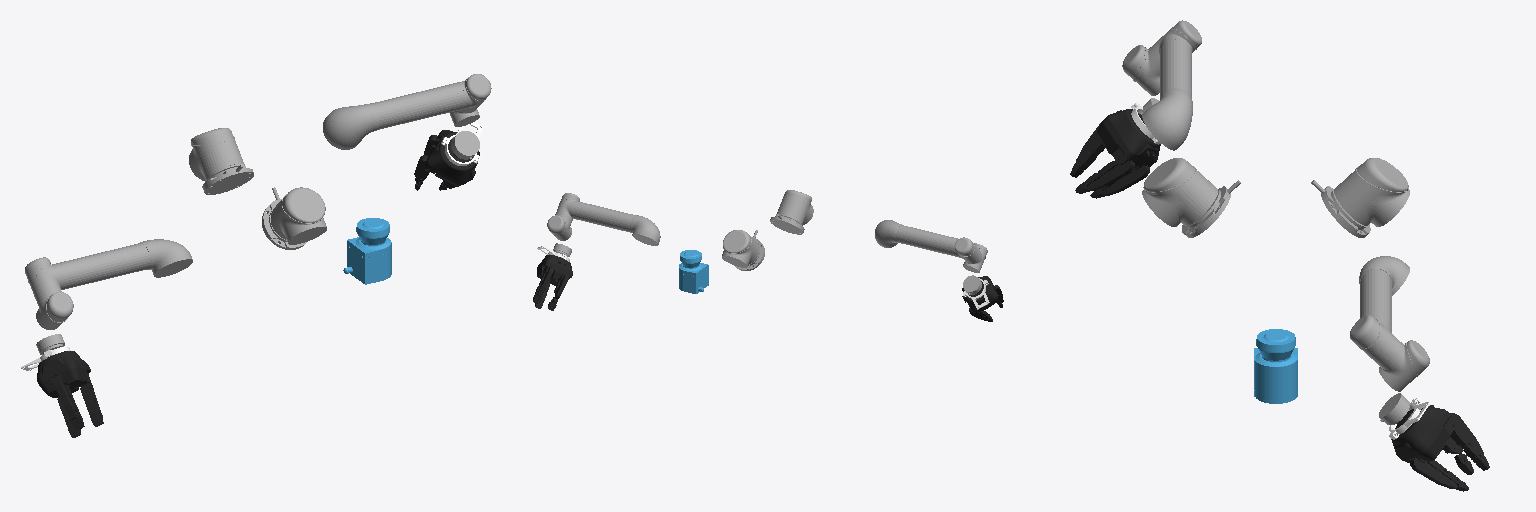
--- Render facts (derived) ---
3 views of the same robot in one strip: view 1: azimuth 30°, elevation 25°; view 2: azimuth 150°, elevation 25°; view 3: azimuth 270°, elevation 25° (orthographic).
Robot: bulldog — 82 links, 81 joints (34 revolute, 4 continuous, 43 fixed); root link base_link; default pose: joints at zero except 12 at the middle of their limits (left_gripper_finger_1_joint_1 = 0.6357, left_gripper_finger_1_joint_3 = -0.637, left_gripper_finger_2_joint_1 = 0.6357, left_gripper_finger_2_joint_3 = -0.637, left_gripper_finger_middle_joint_1 = 0.6357, left_gripper_finger_middle_joint_3 = -0.637, +6 more).
Visible links, largest first — view 1: left_arm_forearm_link, right_arm_forearm_link, laser, right_arm_shoulder_link, left_arm_shoulder_link, right_gripper_palm, left_gripper_palm, right_arm_wrist_1_link, left_arm_base_link, left_arm_wrist_3_link, right_arm_base_link; view 2: left_arm_forearm_link, right_arm_forearm_link, laser, left_arm_shoulder_link, right_arm_shoulder_link, left_gripper_palm; view 3: right_arm_forearm_link, left_arm_forearm_link, left_arm_shoulder_link, right_arm_shoulder_link, laser, left_gripper_palm, right_gripper_palm, left_arm_wrist_1_link, right_arm_wrist_1_link, left_arm_base_link, right_arm_base_link, left_arm_wrist_3_link (+2 smaller).
Boxes of the visible links, bbox=[...] form: left_arm_forearm_link: bbox=[323, 74, 491, 149]; right_arm_forearm_link: bbox=[25, 239, 192, 299]; laser: bbox=[343, 218, 391, 284]; right_arm_shoulder_link: bbox=[271, 187, 326, 244]; left_arm_shoulder_link: bbox=[189, 128, 244, 181]; right_gripper_palm: bbox=[37, 351, 90, 397]; left_gripper_palm: bbox=[425, 130, 479, 185]; right_arm_wrist_1_link: bbox=[36, 290, 73, 329]; left_arm_base_link: bbox=[202, 164, 253, 194]; left_arm_wrist_3_link: bbox=[451, 131, 479, 159]; right_arm_base_link: bbox=[262, 187, 306, 249]; left_arm_forearm_link: bbox=[555, 193, 660, 245]; right_arm_forearm_link: bbox=[875, 220, 979, 262]; laser: bbox=[679, 250, 708, 293]; left_arm_shoulder_link: bbox=[722, 230, 758, 267]; right_arm_shoulder_link: bbox=[776, 190, 813, 225]; left_gripper_palm: bbox=[537, 255, 572, 285]; right_arm_forearm_link: bbox=[1142, 20, 1201, 150]; left_arm_forearm_link: bbox=[1350, 256, 1409, 365]; left_arm_shoulder_link: bbox=[1334, 158, 1409, 226]; right_arm_shoulder_link: bbox=[1142, 158, 1217, 226]; laser: bbox=[1254, 329, 1297, 403]; left_gripper_palm: bbox=[1391, 405, 1450, 462]; right_gripper_palm: bbox=[1097, 109, 1160, 167]; left_arm_wrist_1_link: bbox=[1379, 340, 1429, 391]; right_arm_wrist_1_link: bbox=[1122, 45, 1159, 95]; left_arm_base_link: bbox=[1311, 180, 1370, 237]; right_arm_base_link: bbox=[1182, 180, 1240, 237]; left_arm_wrist_3_link: bbox=[1379, 393, 1409, 424].
Bounding box of the posed robot: 1.81 × 0.9817 × 0.4838 m (x, y, z).
Meshes: 21 distinct files referenced, 38 mesh visuals loaded (12 binary STL); not drawn: 15 (reference not matched to a file when rendering).

URDF robot description (bulldog):
<?xml version="1.0" ?>
<!-- =================================================================================== -->
<!-- |    This document was autogenerated by xacro from bulldog_mujoco_robot.xacro     | -->
<!-- |    EDITING THIS FILE BY HAND IS NOT RECOMMENDED                                 | -->
<!-- =================================================================================== -->
<!-- Create a bulldog robot instantiation -->
<robot name="bulldog" xmlns:xacro="http://ros.org/wiki/xacro">
  <mujoco>
    <compiler meshdir="meshes" discardvisual="false" balanceinertia="true"/>
  </mujoco>
  
  <material name="black">
    <color rgba="0 0 0 1.0"/>
  </material>
  <material name="flat_black">
    <color rgba="0.1 0.1 0.1 1.0"/>
  </material>
  <material name="dark_grey">
    <color rgba="0.175 0.175 0.175 1.0"/>
  </material>
  <material name="grey">
    <color rgba="0.3 0.3 0.3 1"/>
  </material>
  <!-- husky = 0.3282 -->
  <!-- husky = 0.1651 -->
  <!-- 15 degree -->
  <!-- <xacro:property name="left_arm_xyz" value="0 0.15945 0.14069" />
  <xacro:property name="left_arm_rpy" value="${-pi / 12} 0 0" />
  <xacro:property name="right_arm_xyz" value="0 -0.15945 0.14069" />
  <xacro:property name="right_arm_rpy" value="${-pi / 12} 0 ${pi}" /> -->
  <!-- 30 degree -->
  <!-- <xacro:property name="left_arm_xyz" value="0 0.15945 0.14069" />
  <xacro:property name="left_arm_rpy" value="${-pi / 6} 0 0" />
  <xacro:property name="right_arm_xyz" value="0 -0.15945 0.14069" />
  <xacro:property name="right_arm_rpy" value="${-pi / 6} 0 ${pi}" /> -->
  <!-- 0 degree -->
  <!-- <xacro:property name="left_arm_xyz" value="0 0.15945 0.14069" />
  <xacro:property name="left_arm_rpy" value="0 0 0" />
  <xacro:property name="right_arm_xyz" value="0 -0.15945 0.14069" />
  <xacro:property name="right_arm_rpy" value="0 0 ${pi}" /> -->
  <!-- -45 degree -->
  <!-- <xacro:property name="left_arm_xyz" value="0 0.25945 0.49069" />
  <xacro:property name="left_arm_rpy" value="${- 3 * pi / 4} 0 0" />
  <xacro:property name="right_arm_xyz" value="0 -0.25945 0.49069" />
  <xacro:property name="right_arm_rpy" value="${- 3 * pi / 4} 0 ${pi}" /> -->
  <!-- Base link is the center of the robot's bottom plate -->
  <link name="base_link">
    <visual>
      <origin rpy="0 0 0" xyz="0 0 0"/>
      <geometry>
        <mesh filename="package://bulldog_description/meshes/base_link.stl"/>
      </geometry>
      <material name="flat_black"/>
    </visual>
    <collision>
      <origin rpy="0 0 0" xyz="0 0 0.08125"/>
      <geometry>
        <box size="0.85 0.42 0.1625"/>
      </geometry>
    </collision>
    <collision>
      <origin rpy="0 0 0" xyz="0 0 0.21125"/>
      <geometry>
        <box size="0.68 0.42 0.0975"/>
      </geometry>
    </collision>
  </link>
  <gazebo reference="base_link">
    <material>Gazebo/FlatBlack</material>
  </gazebo>
  <!-- Base footprint is on the ground under the robot -->
  <link name="base_footprint"/>
  <joint name="base_footprint_joint" type="fixed">
    <origin rpy="0 0 0" xyz="0 0 -0.13808"/>
    <parent link="base_link"/>
    <child link="base_footprint"/>
  </joint>
  <!-- Interial link stores the robot's inertial information -->
  <!-- <link name="inertial_link">
      <inertial>
        <mass value="40" />
        <origin xyz="0 0 0.1" />
        <inertia ixx="0.7" ixy="-0.03" ixz="-0.15" iyy="2" iyz="-0.01" izz="4" />
      </inertial>
    </link> -->
  <!-- Dual UR5 Husky -->
  <!-- <link name="inertial_link">
      <inertial>
        <mass value="48.39054"/>
        <origin xyz="-0.0648 -0.00059 0.07895"/>
        <inertia ixx="2.1634275613800003" ixy="-0.055452352110000006" ixz="-0.41083822026" iyy="3.5314689495400002" iyz="-0.004366145530000001" izz="4.4759585875" />
      </inertial>
    </link> -->
  <!-- Husky -->
  <link name="inertial_link">
    <inertial>
      <mass value="46.034"/>
      <origin xyz="-0.00065 -0.085 0.062"/>
      <inertia ixx="0.6022" ixy="-0.02364" ixz="-0.1197" iyy="1.7386" iyz="-0.001544" izz="2.0296"/>
    </inertial>
  </link>
  <joint name="inertial_joint" type="fixed">
    <origin rpy="0 0 0" xyz="0 0 0"/>
    <parent link="base_link"/>
    <child link="inertial_link"/>
  </joint>
  <!-- IMU link is the standard mounting position for the UM6 IMU.-->
  <!-- Can be modified with environment variables in /etc/ros/setup.bash -->
  <link name="imu_link"/>
  <joint name="imu_joint" type="fixed">
    <origin rpy="0 -1.5708 3.1416" xyz="0.19 0 0.149"/>
    <parent link="base_link"/>
    <child link="imu_link"/>
  </joint>
  <gazebo reference="imu_link"/>
  <link name="front_left_wheel_link">
    <inertial>
      <mass value="2.637"/>
      <origin xyz="0 0 0"/>
      <inertia ixx="0.02467" ixy="0" ixz="0" iyy="0.04411" iyz="0" izz="0.02467"/>
    </inertial>
    <!-- <inertial>
        <mass value="3" />
        <origin xyz="0 0 0" />
        <inertia  ixx="0.025" ixy="0" ixz="0" iyy="0.045" iyz="0" izz="0.025" />
      </inertial> -->
    <visual>
      <origin rpy="0 0 0" xyz="0 0 0"/>
      <geometry>
        <mesh filename="package://bulldog_description/meshes/wheel.stl"/>
      </geometry>
      <material name="dark_grey"/>
    </visual>
    <collision>
      <origin rpy="1.57079632679 0 0" xyz="0 0 0"/>
      <geometry>
        <cylinder length="0.1346" radius="0.1816"/>
      </geometry>
    </collision>
  </link>
  <gazebo reference="front_left_wheel_link">
    <mu1 value="1.0"/>
    <mu2 value="0.15"/>
    <kp value="10000000.0"/>
    <kd value="1.0"/>
    <fdir1 value="1 0 0"/>
    <material>Gazebo/DarkGrey</material>
  </gazebo>
  <joint name="front_left_wheel_joint" type="continuous">
    <parent link="base_link"/>
    <child link="front_left_wheel_link"/>
    <origin rpy="0 0 0" xyz="0.27935 0.2924 0.04352"/>
    <axis rpy="0 0 0" xyz="0 1 0"/>
  </joint>
  <transmission name="front_left_wheel_trans" type="SimpleTransmission">
    <type>transmission_interface/SimpleTransmission</type>
    <actuator name="front_left_wheel_motor">
      <mechanicalReduction>1</mechanicalReduction>
    </actuator>
    <joint name="front_left_wheel_joint">
      <hardwareInterface>hardware_interface/VelocityJointInterface</hardwareInterface>
    </joint>
  </transmission>
  <link name="front_right_wheel_link">
    <inertial>
      <mass value="2.637"/>
      <origin xyz="0 0 0"/>
      <inertia ixx="0.02467" ixy="0" ixz="0" iyy="0.04411" iyz="0" izz="0.02467"/>
    </inertial>
    <!-- <inertial>
        <mass value="3" />
        <origin xyz="0 0 0" />
        <inertia  ixx="0.025" ixy="0" ixz="0" iyy="0.045" iyz="0" izz="0.025" />
      </inertial> -->
    <visual>
      <origin rpy="0 0 0" xyz="0 0 0"/>
      <geometry>
        <mesh filename="package://bulldog_description/meshes/wheel.stl"/>
      </geometry>
      <material name="dark_grey"/>
    </visual>
    <collision>
      <origin rpy="1.57079632679 0 0" xyz="0 0 0"/>
      <geometry>
        <cylinder length="0.1346" radius="0.1816"/>
      </geometry>
    </collision>
  </link>
  <gazebo reference="front_right_wheel_link">
    <mu1 value="1.0"/>
    <mu2 value="0.15"/>
    <kp value="10000000.0"/>
    <kd value="1.0"/>
    <fdir1 value="1 0 0"/>
    <material>Gazebo/DarkGrey</material>
  </gazebo>
  <joint name="front_right_wheel_joint" type="continuous">
    <parent link="base_link"/>
    <child link="front_right_wheel_link"/>
    <origin rpy="0 0 0" xyz="0.27935 -0.2924 0.04352"/>
    <axis rpy="0 0 0" xyz="0 1 0"/>
  </joint>
  <transmission name="front_right_wheel_trans" type="SimpleTransmission">
    <type>transmission_interface/SimpleTransmission</type>
    <actuator name="front_right_wheel_motor">
      <mechanicalReduction>1</mechanicalReduction>
    </actuator>
    <joint name="front_right_wheel_joint">
      <hardwareInterface>hardware_interface/VelocityJointInterface</hardwareInterface>
    </joint>
  </transmission>
  <link name="rear_left_wheel_link">
    <inertial>
      <mass value="2.637"/>
      <origin xyz="0 0 0"/>
      <inertia ixx="0.02467" ixy="0" ixz="0" iyy="0.04411" iyz="0" izz="0.02467"/>
    </inertial>
    <!-- <inertial>
        <mass value="3" />
        <origin xyz="0 0 0" />
        <inertia  ixx="0.025" ixy="0" ixz="0" iyy="0.045" iyz="0" izz="0.025" />
      </inertial> -->
    <visual>
      <origin rpy="0 0 0" xyz="0 0 0"/>
      <geometry>
        <mesh filename="package://bulldog_description/meshes/wheel.stl"/>
      </geometry>
      <material name="dark_grey"/>
    </visual>
    <collision>
      <origin rpy="1.57079632679 0 0" xyz="0 0 0"/>
      <geometry>
        <cylinder length="0.1346" radius="0.1816"/>
      </geometry>
    </collision>
  </link>
  <gazebo reference="rear_left_wheel_link">
    <mu1 value="1.0"/>
    <mu2 value="0.15"/>
    <kp value="10000000.0"/>
    <kd value="1.0"/>
    <fdir1 value="1 0 0"/>
    <material>Gazebo/DarkGrey</material>
  </gazebo>
  <joint name="rear_left_wheel_joint" type="continuous">
    <parent link="base_link"/>
    <child link="rear_left_wheel_link"/>
    <origin rpy="0 0 0" xyz="-0.27935 0.2924 0.04352"/>
    <axis rpy="0 0 0" xyz="0 1 0"/>
  </joint>
  <transmission name="rear_left_wheel_trans" type="SimpleTransmission">
    <type>transmission_interface/SimpleTransmission</type>
    <actuator name="rear_left_wheel_motor">
      <mechanicalReduction>1</mechanicalReduction>
    </actuator>
    <joint name="rear_left_wheel_joint">
      <hardwareInterface>hardware_interface/VelocityJointInterface</hardwareInterface>
    </joint>
  </transmission>
  <link name="rear_right_wheel_link">
    <inertial>
      <mass value="2.637"/>
      <origin xyz="0 0 0"/>
      <inertia ixx="0.02467" ixy="0" ixz="0" iyy="0.04411" iyz="0" izz="0.02467"/>
    </inertial>
    <!-- <inertial>
        <mass value="3" />
        <origin xyz="0 0 0" />
        <inertia  ixx="0.025" ixy="0" ixz="0" iyy="0.045" iyz="0" izz="0.025" />
      </inertial> -->
    <visual>
      <origin rpy="0 0 0" xyz="0 0 0"/>
      <geometry>
        <mesh filename="package://bulldog_description/meshes/wheel.stl"/>
      </geometry>
      <material name="dark_grey"/>
    </visual>
    <collision>
      <origin rpy="1.57079632679 0 0" xyz="0 0 0"/>
      <geometry>
        <cylinder length="0.1346" radius="0.1816"/>
      </geometry>
    </collision>
  </link>
  <gazebo reference="rear_right_wheel_link">
    <mu1 value="1.0"/>
    <mu2 value="0.15"/>
    <kp value="10000000.0"/>
    <kd value="1.0"/>
    <fdir1 value="1 0 0"/>
    <material>Gazebo/DarkGrey</material>
  </gazebo>
  <joint name="rear_right_wheel_joint" type="continuous">
    <parent link="base_link"/>
    <child link="rear_right_wheel_link"/>
    <origin rpy="0 0 0" xyz="-0.27935 -0.2924 0.04352"/>
    <axis rpy="0 0 0" xyz="0 1 0"/>
  </joint>
  <transmission name="rear_right_wheel_trans" type="SimpleTransmission">
    <type>transmission_interface/SimpleTransmission</type>
    <actuator name="rear_right_wheel_motor">
      <mechanicalReduction>1</mechanicalReduction>
    </actuator>
    <joint name="rear_right_wheel_joint">
      <hardwareInterface>hardware_interface/VelocityJointInterface</hardwareInterface>
    </joint>
  </transmission>
  <link name="top_plate_link">
    <visual>
      <origin rpy="0 0 0" xyz="0 0 0"/>
      <geometry>
        <mesh filename="package://bulldog_description/meshes/top_plate.stl"/>
      </geometry>
      <material name="grey"/>
    </visual>
  </link>
  <joint name="top_plate_joint" type="fixed">
    <origin rpy="0 0 0" xyz="0.07937 0 0.253"/>
    <parent link="base_link"/>
    <child link="top_plate_link"/>
  </joint>
  <gazebo reference="top_plate_link">
    <material>Gazebo/Grey</material>
  </gazebo>
  <link name="installation_plate_link">
    <visual>
      <origin rpy="0 0 1.57" xyz="0 0 -0.0476"/>
      <geometry>
        <mesh filename="package://bulldog_description/meshes/installation_plate.stl"/>
      </geometry>
      <material name="black"/>
    </visual>
  </link>
  <joint name="installation_plate_joint" type="fixed">
    <parent link="base_link"/>
    <child link="installation_plate_link"/>
    <origin rpy="0 0 0" xyz="0.147 0 0.314"/>
  </joint>
  <gazebo reference="installation_plate_link">
    <material>Gazebo/Black</material>
  </gazebo>
  <!-- measured from model -->
  <!--property name="shoulder_height" value="0.089159" /-->
  <!--property name="shoulder_offset" value="0.13585" /-->
  <!-- shoulder_offset - elbow_offset + wrist_1_length = 0.10915 -->
  <!--property name="upper_arm_length" value="0.42500" /-->
  <!--property name="elbow_offset" value="0.1197" /-->
  <!-- CAD measured -->
  <!--property name="forearm_length" value="0.39225" /-->
  <!--property name="wrist_1_length" value="0.093" /-->
  <!-- CAD measured -->
  <!--property name="wrist_2_length" value="0.09465" /-->
  <!-- In CAD this distance is 0.930, but in the spec it is 0.09465 -->
  <!--property name="wrist_3_length" value="0.0823" /-->
  <!-- manually measured -->
  <link name="left_arm_base_link">
    <visual>
      <geometry>
        <!-- <mesh filename="package://ur_description/meshes/ur5/visual/base.dae"/> -->
        <mesh filename="package://ur_description/meshes/ur5/visual/ur5_visual_base.stl"/>
      </geometry>
      <material name="LightGrey">
        <color rgba="0.7 0.7 0.7 1.0"/>
      </material>
    </visual>
    <collision>
      <geometry>
        <!-- <mesh filename="package://ur_description/meshes/ur5/collision/base.stl"/> -->
        <mesh filename="package://ur_description/meshes/ur5/collision/ur5_collision_base.stl"/>
      </geometry>
    </collision>
    <inertial>
      <mass value="4.0"/>
      <origin rpy="0 0 0" xyz="0.0 0.0 0.0"/>
      <inertia ixx="0.00443333156" ixy="0.0" ixz="0.0" iyy="0.00443333156" iyz="0.0" izz="0.0072"/>
    </inertial>
  </link>
  <joint name="left_arm_shoulder_pan_joint" type="revolute">
    <parent link="left_arm_base_link"/>
    <child link="left_arm_shoulder_link"/>
    <origin rpy="0.0 0.0 0.0" xyz="0.0 0.0 0.089159"/>
    <axis xyz="0 0 1"/>
    <limit effort="150.0" lower="-3.14159265359" upper="3.14159265359" velocity="3.15"/>
    <dynamics damping="0.0" friction="0.0"/>
  </joint>
  <link name="left_arm_shoulder_link">
    <visual>
      <geometry>
        <!-- <mesh filename="package://ur_description/meshes/ur5/visual/shoulder.dae"/> -->
        <mesh filename="package://ur_description/meshes/ur5/visual/ur5_visual_shoulder.stl"/>
      </geometry>
      <material name="LightGrey">
        <color rgba="0.7 0.7 0.7 1.0"/>
      </material>
    </visual>
    <collision>
      <geometry>
        <!-- <mesh filename="package://ur_description/meshes/ur5/collision/shoulder.stl"/> -->
        <mesh filename="package://ur_description/meshes/ur5/collision/ur5_collision_shoulder.stl"/>
      </geometry>
    </collision>
    <inertial>
      <mass value="3.7"/>
      <origin rpy="0 0 0" xyz="0.0 0.0 0.0"/>
      <inertia ixx="0.010267495893" ixy="0.0" ixz="0.0" iyy="0.010267495893" iyz="0.0" izz="0.00666"/>
    </inertial>
  </link>
  <joint name="left_arm_shoulder_lift_joint" type="revolute">
    <parent link="left_arm_shoulder_link"/>
    <child link="left_arm_upper_arm_link"/>
    <origin rpy="0.0 1.57079632679 0.0" xyz="0.0 0.13585 0.0"/>
    <axis xyz="0 1 0"/>
    <limit effort="150.0" lower="-3.14159265359" upper="3.14159265359" velocity="3.15"/>
    <dynamics damping="0.0" friction="0.0"/>
  </joint>
  <link name="left_arm_upper_arm_link">
    <visual>
      <geometry>
        <!-- <mesh filename="package://ur_description/meshes/ur5/visual/upperarm.dae"/> -->
        <mesh filename="package://ur_description/meshes/ur5/visual/ur5_visual_upperarm.stl"/>
      </geometry>
      <material name="LightGrey">
        <color rgba="0.7 0.7 0.7 1.0"/>
      </material>
    </visual>
    <collision>
      <geometry>
        <!-- <mesh filename="package://ur_description/meshes/ur5/collision/upperarm.stl"/> -->
        <mesh filename="package://ur_description/meshes/ur5/collision/ur5_collision_upperarm.stl"/>
      </geometry>
    </collision>
    <inertial>
      <mass value="8.393"/>
      <origin rpy="0 0 0" xyz="0.0 0.0 0.28"/>
      <inertia ixx="0.22689067591" ixy="0.0" ixz="0.0" iyy="0.22689067591" iyz="0.0" izz="0.0151074"/>
    </inertial>
  </link>
  <joint name="left_arm_elbow_joint" type="revolute">
    <parent link="left_arm_upper_arm_link"/>
    <child link="left_arm_forearm_link"/>
    <origin rpy="0.0 0.0 0.0" xyz="0.0 -0.1197 0.425"/>
    <axis xyz="0 1 0"/>
    <limit effort="150.0" lower="-3.14159265359" upper="3.14159265359" velocity="3.15"/>
    <dynamics damping="0.0" friction="0.0"/>
  </joint>
  <link name="left_arm_forearm_link">
    <visual>
      <geometry>
        <!-- <mesh filename="package://ur_description/meshes/ur5/visual/forearm.dae"/> -->
        <mesh filename="package://ur_description/meshes/ur5/visual/ur5_visual_forearm.stl"/>
      </geometry>
      <material name="LightGrey">
        <color rgba="0.7 0.7 0.7 1.0"/>
      </material>
    </visual>
    <collision>
      <geometry>
        <!-- <mesh filename="package://ur_description/meshes/ur5/collision/forearm.stl"/> -->
        <mesh filename="package://ur_description/meshes/ur5/collision/ur5_collision_forearm.stl"/>
      </geometry>
    </collision>
    <inertial>
      <mass value="2.275"/>
      <origin rpy="0 0 0" xyz="0.0 0.0 0.196125"/>
      <inertia ixx="0.0312167910289" ixy="0.0" ixz="0.0" iyy="0.0312167910289" iyz="0.0" izz="0.004095"/>
    </inertial>
  </link>
  <joint name="left_arm_wrist_1_joint" type="revolute">
    <parent link="left_arm_forearm_link"/>
    <child link="left_arm_wrist_1_link"/>
    <origin rpy="0.0 1.57079632679 0.0" xyz="0.0 0.0 0.39225"/>
    <axis xyz="0 1 0"/>
    <limit effort="28.0" lower="-3.14159265359" upper="3.14159265359" velocity="3.2"/>
    <dynamics damping="0.0" friction="0.0"/>
  </joint>
  <link name="left_arm_wrist_1_link">
    <visual>
      <geometry>
        <!-- <mesh filename="package://ur_description/meshes/ur5/visual/wrist1.dae"/> -->
        <mesh filename="package://ur_description/meshes/ur5/visual/ur5_visual_wrist1.stl"/>
      </geometry>
      <material name="LightGrey">
        <color rgba="0.7 0.7 0.7 1.0"/>
      </material>
    </visual>
    <collision>
      <geometry>
        <!-- <mesh filename="package://ur_description/meshes/ur5/collision/wrist1.stl"/> -->
        <mesh filename="package://ur_description/meshes/ur5/collision/ur5_collision_wrist1.stl"/>
      </geometry>
    </collision>
    <inertial>
      <mass value="1.219"/>
      <origin rpy="0 0 0" xyz="0.0 0.093 0.0"/>
      <inertia ixx="0.00255989897604" ixy="0.0" ixz="0.0" iyy="0.00255989897604" iyz="0.0" izz="0.0021942"/>
    </inertial>
  </link>
  <joint name="left_arm_wrist_2_joint" type="revolute">
    <parent link="left_arm_wrist_1_link"/>
    <child link="left_arm_wrist_2_link"/>
    <origin rpy="0.0 0.0 0.0" xyz="0.0 0.093 0.0"/>
    <axis xyz="0 0 1"/>
    <limit effort="28.0" lower="-3.14159265359" upper="3.14159265359" velocity="3.2"/>
    <dynamics damping="0.0" friction="0.0"/>
  </joint>
  <link name="left_arm_wrist_2_link">
    <visual>
      <geometry>
        <!-- <mesh filename="package://ur_description/meshes/ur5/visual/wrist2.dae"/> -->
        <mesh filename="package://ur_description/meshes/ur5/visual/ur5_visual_wrist2.stl"/>
      </geometry>
      <material name="LightGrey">
        <color rgba="0.7 0.7 0.7 1.0"/>
      </material>
    </visual>
    <collision>
      <geometry>
        <!-- <mesh filename="package://ur_description/meshes/ur5/collision/wrist2.stl"/> -->
        <mesh filename="package://ur_description/meshes/ur5/collision/ur5_collision_wrist2.stl"/>
      </geometry>
    </collision>
    <inertial>
      <mass value="1.219"/>
      <origin rpy="0 0 0" xyz="0.0 0.0 0.09465"/>
      <inertia ixx="0.00255989897604" ixy="0.0" ixz="0.0" iyy="0.00255989897604" iyz="0.0" izz="0.0021942"/>
    </inertial>
  </link>
  <joint name="left_arm_wrist_3_joint" type="revolute">
    <parent link="left_arm_wrist_2_link"/>
    <child link="left_arm_wrist_3_link"/>
    <origin rpy="0.0 0.0 0.0" xyz="0.0 0.0 0.09465"/>
    <axis xyz="0 1 0"/>
    <limit effort="28.0" lower="-3.14159265359" upper="3.14159265359" velocity="3.2"/>
    <dynamics damping="0.0" friction="0.0"/>
  </joint>
  <link name="left_arm_wrist_3_link">
    <visual>
      <geometry>
        <!-- <mesh filename="package://ur_description/meshes/ur5/visual/wrist3.dae"/> -->
        <mesh filename="package://ur_description/meshes/ur5/visual/ur5_visual_wrist3.stl"/>
      </geometry>
      <material name="LightGrey">
        <color rgba="0.7 0.7 0.7 1.0"/>
      </material>
    </visual>
    <collision>
      <geometry>
        <!-- <mesh filename="package://ur_description/meshes/ur5/collision/wrist3.stl"/> -->
        <mesh filename="package://ur_description/meshes/ur5/collision/ur5_collision_wrist3.stl"/>
      </geometry>
    </collision>
    <inertial>
      <mass value="0.1879"/>
      <origin rpy="1.57079632679 0 0" xyz="0.0 0.06505 0.0"/>
      <inertia ixx="8.46958911216e-05" ixy="0.0" ixz="0.0" iyy="8.46958911216e-05" iyz="0.0" izz="0.0001321171875"/>
    </inertial>
  </link>
  <transmission name="left_arm_shoulder_pan_trans">
    <type>transmission_interface/SimpleTransmission</type>
    <joint name="left_arm_shoulder_pan_joint">
      <hardwareInterface>hardware_interface/PositionJointInterface</hardwareInterface>
    </joint>
    <actuator name="left_arm_shoulder_pan_motor">
      <mechanicalReduction>1</mechanicalReduction>
    </actuator>
  </transmission>
  <transmission name="left_arm_shoulder_lift_trans">
    <type>transmission_interface/SimpleTransmission</type>
    <joint name="left_arm_shoulder_lift_joint">
      <hardwareInterface>hardware_interface/PositionJointInterface</hardwareInterface>
    </joint>
    <actuator name="left_arm_shoulder_lift_motor">
      <mechanicalReduction>1</mechanicalReduction>
    </actuator>
  </transmission>
  <transmission name="left_arm_elbow_trans">
    <type>transmission_interface/SimpleTransmission</type>
    <joint name="left_arm_elbow_joint">
      <hardwareInterface>hardware_interface/PositionJointInterface</hardwareInterface>
    </joint>
    <actuator name="left_arm_elbow_motor">
      <mechanicalReduction>1</mechanicalReduction>
    </actuator>
  </transmission>
  <transmission name="left_arm_wrist_1_trans">
    <type>transmission_interface/SimpleTransmission</type>
    <joint name="left_arm_wrist_1_joint">
      <hardwareInterface>hardware_interface/PositionJointInterface</hardwareInterface>
    </joint>
    <actuator name="left_arm_wrist_1_motor">
      <mechanicalReduction>1</mechanicalReduction>
    </actuator>
  </transmission>
  <transmission name="left_arm_wrist_2_trans">
    <type>transmission_interface/SimpleTransmission</type>
    <joint name="left_arm_wrist_2_joint">
      <hardwareInterface>hardware_interface/PositionJointInterface</hardwareInterface>
    </joint>
    <actuator name="left_arm_wrist_2_motor">
      <mechanicalReduction>1</mechanicalReduction>
    </actuator>
  </transmission>
  <transmission name="left_arm_wrist_3_trans">
    <type>transmission_interface/SimpleTransmission</type>
    <joint name="left_arm_wrist_3_joint">
      <hardwareInterface>hardware_interface/PositionJointInterface</hardwareInterface>
    </joint>
    <actuator name="left_arm_wrist_3_motor">
      <mechanicalReduction>1</mechanicalReduction>
    </actuator>
  </transmission>
  <gazebo reference="left_arm_shoulder_link">
    <selfCollide>false</selfCollide>
  </gazebo>
  <gazebo reference="left_arm_upper_arm_link">
    <selfCollide>false</selfCollide>
  </gazebo>
  <gazebo reference="left_arm_forearm_link">
    <selfCollide>false</selfCollide>
  </gazebo>
  <gazebo reference="left_arm_wrist_1_link">
    <selfCollide>false</selfCollide>
  </gazebo>
  <gazebo reference="left_arm_wrist_3_link">
    <selfCollide>false</selfCollide>
  </gazebo>
  <gazebo reference="left_arm_wrist_2_link">
    <selfCollide>false</selfCollide>
  </gazebo>
  <!-- ROS base_link to UR 'Base' Coordinates transform -->
  <link name="left_arm_base"/>
  <joint name="left_arm_base_link-base_fixed_joint" type="fixed">
    <!-- NOTE: this rotation is only needed as long as base_link itself is
                 not corrected wrt the real robot (ie: rotated over 180
                 degrees)
      -->
    <origin rpy="0 0 -3.14159265359" xyz="0 0 0"/>
    <parent link="left_arm_base_link"/>
    <child link="left_arm_base"/>
  </joint>
  <!-- Frame coincident with all-zeros TCP on UR controller -->
  <link name="left_arm_tool0"/>
  <joint name="left_arm_wrist_3_link-tool0_fixed_joint" type="fixed">
    <origin rpy="-1.57079632679 0 0" xyz="0 0.0823 0"/>
    <parent link="left_arm_wrist_3_link"/>
    <child link="left_arm_tool0"/>
  </joint>
  <joint name="left_arm_base" type="fixed">
    <parent link="installation_plate_link"/>
    <child link="left_arm_base_link"/>
    <origin rpy="-0.785398163397 0 0" xyz="0 0.15945 0.09069"/>
  </joint>
  <!-- measured from model -->
  <!--property name="shoulder_height" value="0.089159" /-->
  <!--property name="shoulder_offset" value="0.13585" /-->
  <!-- shoulder_offset - elbow_offset + wrist_1_length = 0.10915 -->
  <!--property name="upper_arm_length" value="0.42500" /-->
  <!--property name="elbow_offset" value="0.1197" /-->
  <!-- CAD measured -->
  <!--property name="forearm_length" value="0.39225" /-->
  <!--property name="wrist_1_length" value="0.093" /-->
  <!-- CAD measured -->
  <!--property name="wrist_2_length" value="0.09465" /-->
  <!-- In CAD this distance is 0.930, but in the spec it is 0.09465 -->
  <!--property name="wrist_3_length" value="0.0823" /-->
  <!-- manually measured -->
  <link name="right_arm_base_link">
    <visual>
      <geometry>
        <!-- <mesh filename="package://ur_description/meshes/ur5/visual/base.dae"/> -->
        <mesh filename="package://ur_description/meshes/ur5/visual/ur5_visual_base.stl"/>
      </geometry>
      <material name="LightGrey">
        <color rgba="0.7 0.7 0.7 1.0"/>
      </material>
    </visual>
    <collision>
      <geometry>
        <!-- <mesh filename="package://ur_description/meshes/ur5/collision/base.stl"/> -->
        <mesh filename="package://ur_description/meshes/ur5/collision/ur5_collision_base.stl"/>
      </geometry>
    </collision>
    <inertial>
      <mass value="4.0"/>
      <origin rpy="0 0 0" xyz="0.0 0.0 0.0"/>
      <inertia ixx="0.00443333156" ixy="0.0" ixz="0.0" iyy="0.00443333156" iyz="0.0" izz="0.0072"/>
    </inertial>
  </link>
  <joint name="right_arm_shoulder_pan_joint" type="revolute">
    <parent link="right_arm_base_link"/>
    <child link="right_arm_shoulder_link"/>
    <origin rpy="0.0 0.0 0.0" xyz="0.0 0.0 0.089159"/>
    <axis xyz="0 0 1"/>
    <limit effort="150.0" lower="-3.14159265359" upper="3.14159265359" velocity="3.15"/>
    <dynamics damping="0.0" friction="0.0"/>
  </joint>
  <link name="right_arm_shoulder_link">
    <visual>
      <geometry>
        <!-- <mesh filename="package://ur_description/meshes/ur5/visual/shoulder.dae"/> -->
        <mesh filename="package://ur_description/meshes/ur5/visual/ur5_visual_shoulder.stl"/>
      </geometry>
      <material name="LightGrey">
        <color rgba="0.7 0.7 0.7 1.0"/>
      </material>
    </visual>
    <collision>
      <geometry>
        <!-- <mesh filename="package://ur_description/meshes/ur5/collision/shoulder.stl"/> -->
        <mesh filename="package://ur_description/meshes/ur5/collision/ur5_collision_shoulder.stl"/>
      </geometry>
    </collision>
    <inertial>
      <mass value="3.7"/>
      <origin rpy="0 0 0" xyz="0.0 0.0 0.0"/>
      <inertia ixx="0.010267495893" ixy="0.0" ixz="0.0" iyy="0.010267495893" iyz="0.0" izz="0.00666"/>
    </inertial>
  </link>
  <joint name="right_arm_shoulder_lift_joint" type="revolute">
    <parent link="right_arm_shoulder_link"/>
    <child link="right_arm_upper_arm_link"/>
    <origin rpy="0.0 1.57079632679 0.0" xyz="0.0 0.13585 0.0"/>
    <axis xyz="0 1 0"/>
    <limit effort="150.0" lower="-3.14159265359" upper="3.14159265359" velocity="3.15"/>
    <dynamics damping="0.0" friction="0.0"/>
  </joint>
  <link name="right_arm_upper_arm_link">
    <visual>
      <geometry>
        <!-- <mesh filename="package://ur_description/meshes/ur5/visual/upperarm.dae"/> -->
        <mesh filename="package://ur_description/meshes/ur5/visual/ur5_visual_upperarm.stl"/>
      </geometry>
      <material name="LightGrey">
        <color rgba="0.7 0.7 0.7 1.0"/>
      </material>
    </visual>
    <collision>
      <geometry>
        <!-- <mesh filename="package://ur_description/meshes/ur5/collision/upperarm.stl"/> -->
        <mesh filename="package://ur_description/meshes/ur5/collision/ur5_collision_upperarm.stl"/>
      </geometry>
    </collision>
    <inertial>
      <mass value="8.393"/>
      <origin rpy="0 0 0" xyz="0.0 0.0 0.28"/>
      <inertia ixx="0.22689067591" ixy="0.0" ixz="0.0" iyy="0.22689067591" iyz="0.0" izz="0.0151074"/>
    </inertial>
  </link>
  <joint name="right_arm_elbow_joint" type="revolute">
    <parent link="right_arm_upper_arm_link"/>
    <child link="right_arm_forearm_link"/>
    <origin rpy="0.0 0.0 0.0" xyz="0.0 -0.1197 0.425"/>
    <axis xyz="0 1 0"/>
    <limit effort="150.0" lower="-3.14159265359" upper="3.14159265359" velocity="3.15"/>
    <dynamics damping="0.0" friction="0.0"/>
  </joint>
  <link name="right_arm_forearm_link">
    <visual>
      <geometry>
        <!-- <mesh filename="package://ur_description/meshes/ur5/visual/forearm.dae"/> -->
        <mesh filename="package://ur_description/meshes/ur5/visual/ur5_visual_forearm.stl"/>
      </geometry>
      <material name="LightGrey">
        <color rgba="0.7 0.7 0.7 1.0"/>
      </material>
    </visual>
    <collision>
      <geometry>
        <!-- <mesh filename="package://ur_description/meshes/ur5/collision/forearm.stl"/> -->
        <mesh filename="package://ur_description/meshes/ur5/collision/ur5_collision_forearm.stl"/>
      </geometry>
    </collision>
    <inertial>
      <mass value="2.275"/>
      <origin rpy="0 0 0" xyz="0.0 0.0 0.196125"/>
      <inertia ixx="0.0312167910289" ixy="0.0" ixz="0.0" iyy="0.0312167910289" iyz="0.0" izz="0.004095"/>
    </inertial>
  </link>
  <joint name="right_arm_wrist_1_joint" type="revolute">
    <parent link="right_arm_forearm_link"/>
    <child link="right_arm_wrist_1_link"/>
    <origin rpy="0.0 1.57079632679 0.0" xyz="0.0 0.0 0.39225"/>
    <axis xyz="0 1 0"/>
    <limit effort="28.0" lower="-3.14159265359" upper="3.14159265359" velocity="3.2"/>
    <dynamics damping="0.0" friction="0.0"/>
  </joint>
  <link name="right_arm_wrist_1_link">
    <visual>
      <geometry>
        <!-- <mesh filename="package://ur_description/meshes/ur5/visual/wrist1.dae"/> -->
        <mesh filename="package://ur_description/meshes/ur5/visual/ur5_visual_wrist1.stl"/>
      </geometry>
      <material name="LightGrey">
        <color rgba="0.7 0.7 0.7 1.0"/>
      </material>
    </visual>
    <collision>
      <geometry>
        <!-- <mesh filename="package://ur_description/meshes/ur5/collision/wrist1.stl"/> -->
        <mesh filename="package://ur_description/meshes/ur5/collision/ur5_collision_wrist1.stl"/>
      </geometry>
    </collision>
    <inertial>
      <mass value="1.219"/>
      <origin rpy="0 0 0" xyz="0.0 0.093 0.0"/>
      <inertia ixx="0.00255989897604" ixy="0.0" ixz="0.0" iyy="0.00255989897604" iyz="0.0" izz="0.0021942"/>
    </inertial>
  </link>
  <joint name="right_arm_wrist_2_joint" type="revolute">
    <parent link="right_arm_wrist_1_link"/>
    <child link="right_arm_wrist_2_link"/>
    <origin rpy="0.0 0.0 0.0" xyz="0.0 0.093 0.0"/>
    <axis xyz="0 0 1"/>
    <limit effort="28.0" lower="-3.14159265359" upper="3.14159265359" velocity="3.2"/>
    <dynamics damping="0.0" friction="0.0"/>
  </joint>
  <link name="right_arm_wrist_2_link">
    <visual>
      <geometry>
        <!-- <mesh filename="package://ur_description/meshes/ur5/visual/wrist2.dae"/> -->
        <mesh filename="package://ur_description/meshes/ur5/visual/ur5_visual_wrist2.stl"/>
      </geometry>
      <material name="LightGrey">
        <color rgba="0.7 0.7 0.7 1.0"/>
      </material>
    </visual>
    <collision>
      <geometry>
        <!-- <mesh filename="package://ur_description/meshes/ur5/collision/wrist2.stl"/> -->
        <mesh filename="package://ur_description/meshes/ur5/collision/ur5_collision_wrist2.stl"/>
      </geometry>
    </collision>
    <inertial>
      <mass value="1.219"/>
      <origin rpy="0 0 0" xyz="0.0 0.0 0.09465"/>
      <inertia ixx="0.00255989897604" ixy="0.0" ixz="0.0" iyy="0.00255989897604" iyz="0.0" izz="0.0021942"/>
    </inertial>
  </link>
  <joint name="right_arm_wrist_3_joint" type="revolute">
    <parent link="right_arm_wrist_2_link"/>
    <child link="right_arm_wrist_3_link"/>
    <origin rpy="0.0 0.0 0.0" xyz="0.0 0.0 0.09465"/>
    <axis xyz="0 1 0"/>
    <limit effort="28.0" lower="-3.14159265359" upper="3.14159265359" velocity="3.2"/>
    <dynamics damping="0.0" friction="0.0"/>
  </joint>
  <link name="right_arm_wrist_3_link">
    <visual>
      <geometry>
        <!-- <mesh filename="package://ur_description/meshes/ur5/visual/wrist3.dae"/> -->
        <mesh filename="package://ur_description/meshes/ur5/visual/ur5_visual_wrist3.stl"/>
      </geometry>
      <material name="LightGrey">
        <color rgba="0.7 0.7 0.7 1.0"/>
      </material>
    </visual>
    <collision>
      <geometry>
        <!-- <mesh filename="package://ur_description/meshes/ur5/collision/wrist3.stl"/> -->
        <mesh filename="package://ur_description/meshes/ur5/collision/ur5_collision_wrist3.stl"/>
      </geometry>
    </collision>
    <inertial>
      <mass value="0.1879"/>
      <origin rpy="1.57079632679 0 0" xyz="0.0 0.06505 0.0"/>
      <inertia ixx="8.46958911216e-05" ixy="0.0" ixz="0.0" iyy="8.46958911216e-05" iyz="0.0" izz="0.0001321171875"/>
    </inertial>
  </link>
  <transmission name="right_arm_shoulder_pan_trans">
    <type>transmission_interface/SimpleTransmission</type>
    <joint name="right_arm_shoulder_pan_joint">
      <hardwareInterface>hardware_interface/PositionJointInterface</hardwareInterface>
    </joint>
    <actuator name="right_arm_shoulder_pan_motor">
      <mechanicalReduction>1</mechanicalReduction>
    </actuator>
  </transmission>
  <transmission name="right_arm_shoulder_lift_trans">
    <type>transmission_interface/SimpleTransmission</type>
    <joint name="right_arm_shoulder_lift_joint">
      <hardwareInterface>hardware_interface/PositionJointInterface</hardwareInterface>
    </joint>
    <actuator name="right_arm_shoulder_lift_motor">
      <mechanicalReduction>1</mechanicalReduction>
    </actuator>
  </transmission>
  <transmission name="right_arm_elbow_trans">
    <type>transmission_interface/SimpleTransmission</type>
    <joint name="right_arm_elbow_joint">
      <hardwareInterface>hardware_interface/PositionJointInterface</hardwareInterface>
    </joint>
    <actuator name="right_arm_elbow_motor">
      <mechanicalReduction>1</mechanicalReduction>
    </actuator>
  </transmission>
  <transmission name="right_arm_wrist_1_trans">
    <type>transmission_interface/SimpleTransmission</type>
    <joint name="right_arm_wrist_1_joint">
      <hardwareInterface>hardware_interface/PositionJointInterface</hardwareInterface>
    </joint>
    <actuator name="right_arm_wrist_1_motor">
      <mechanicalReduction>1</mechanicalReduction>
    </actuator>
  </transmission>
  <transmission name="right_arm_wrist_2_trans">
    <type>transmission_interface/SimpleTransmission</type>
    <joint name="right_arm_wrist_2_joint">
      <hardwareInterface>hardware_interface/PositionJointInterface</hardwareInterface>
    </joint>
    <actuator name="right_arm_wrist_2_motor">
      <mechanicalReduction>1</mechanicalReduction>
    </actuator>
  </transmission>
  <transmission name="right_arm_wrist_3_trans">
    <type>transmission_interface/SimpleTransmission</type>
    <joint name="right_arm_wrist_3_joint">
      <hardwareInterface>hardware_interface/PositionJointInterface</hardwareInterface>
    </joint>
    <actuator name="right_arm_wrist_3_motor">
      <mechanicalReduction>1</mechanicalReduction>
    </actuator>
  </transmission>
  <gazebo reference="right_arm_shoulder_link">
    <selfCollide>false</selfCollide>
  </gazebo>
  <gazebo reference="right_arm_upper_arm_link">
    <selfCollide>false</selfCollide>
  </gazebo>
  <gazebo reference="right_arm_forearm_link">
    <selfCollide>false</selfCollide>
  </gazebo>
  <gazebo reference="right_arm_wrist_1_link">
    <selfCollide>false</selfCollide>
  </gazebo>
  <gazebo reference="right_arm_wrist_3_link">
    <selfCollide>false</selfCollide>
  </gazebo>
  <gazebo reference="right_arm_wrist_2_link">
    <selfCollide>false</selfCollide>
  </gazebo>
  <!-- ROS base_link to UR 'Base' Coordinates transform -->
  <link name="right_arm_base"/>
  <joint name="right_arm_base_link-base_fixed_joint" type="fixed">
    <!-- NOTE: this rotation is only needed as long as base_link itself is
                 not corrected wrt the real robot (ie: rotated over 180
                 degrees)
      -->
    <origin rpy="0 0 -3.14159265359" xyz="0 0 0"/>
    <parent link="right_arm_base_link"/>
    <child link="right_arm_base"/>
  </joint>
  <!-- Frame coincident with all-zeros TCP on UR controller -->
  <link name="right_arm_tool0"/>
  <joint name="right_arm_wrist_3_link-tool0_fixed_joint" type="fixed">
    <origin rpy="-1.57079632679 0 0" xyz="0 0.0823 0"/>
    <parent link="right_arm_wrist_3_link"/>
    <child link="right_arm_tool0"/>
  </joint>
  <joint name="right_arm_base" type="fixed">
    <parent link="installation_plate_link"/>
    <child link="right_arm_base_link"/>
    <origin rpy="-0.785398163397 0 3.14159265359" xyz="0 -0.15945 0.09069"/>
  </joint>
  <!-- joint attaching parent link to robotiq hand -->
  <joint name="left_gripper_robotiq_hand_joint" type="fixed">
    <origin rpy="1.57079632679 0 -2.35619449019" xyz="0 0 0.065"/>
    <parent link="left_arm_tool0"/>
    <child link="left_gripper_palm"/>
  </joint>
  <!-- link list -->
  <link name="left_gripper_finger_1_link_0">
    <visual>
      <origin rpy="0 0 0" xyz="0.020 0 0"/>
      <geometry>
        <!-- <mesh filename="package://robotiq_3f_gripper_visualization/meshes/robotiq-3f-gripper_articulated/visual/link_0.dae"/> -->
        <mesh filename="package://robotiq_3f_gripper_visualization/meshes/robotiq-3f-gripper_articulated/visual/robotiq_3f_gripper_visual_link_0.stl"/>
      </geometry>
      <material name="gray">
        <color rgba="0.2 0.2 0.2 1"/>
      </material>
    </visual>
    <collision>
      <origin rpy="0 0 0" xyz="0.020 0 0"/>
      <geometry>
        <!-- <mesh filename="package://robotiq_3f_gripper_visualization/meshes/robotiq-3f-gripper_articulated/collision/link_0.STL"/> -->
        <mesh filename="package://robotiq_3f_gripper_visualization/meshes/robotiq-3f-gripper_articulated/collision/robotiq_3f_gripper_collision_link_0.STL"/>
      </geometry>
      <material name="yellow">
        <color rgba="0 1 1 1"/>
      </material>
    </collision>
    <inertial>
      <origin rpy="0 0 0" xyz="0 0 0"/>
      <mass value="0.05"/>
      <inertia ixx="0.01" ixy="-0.00002" ixz="0.00001" iyy="0.0008" iyz="0" izz="0.001"/>
    </inertial>
  </link>
  <link name="left_gripper_finger_1_link_1">
    <visual>
      <origin rpy="0 0 -0.52" xyz="0.050 -.028 0"/>
      <geometry>
        <!-- <mesh filename="package://robotiq_3f_gripper_visualization/meshes/robotiq-3f-gripper_articulated/visual/link_1.dae"/> -->
        <mesh filename="package://robotiq_3f_gripper_visualization/meshes/robotiq-3f-gripper_articulated/visual/robotiq_3f_gripper_visual_link_1.stl"/>
      </geometry>
      <material name="gray"/>
    </visual>
    <collision>
      <origin rpy="0 0 -0.52" xyz="0.050 -.028 0"/>
      <geometry>
        <!-- <mesh filename="package://robotiq_3f_gripper_visualization/meshes/robotiq-3f-gripper_articulated/collision/link_1.STL"/> -->
        <mesh filename="package://robotiq_3f_gripper_visualization/meshes/robotiq-3f-gripper_articulated/collision/robotiq_3f_gripper_collision_link_1.STL"/>
      </geometry>
      <material name="yellow"/>
    </collision>
    <inertial>
      <origin rpy="0 0 0" xyz="0 0 0"/>
      <mass value="0.15"/>
      <inertia ixx="0.001859" ixy="-0.000376" ixz="0.000028" iyy="0.012756" iyz="0" izz="0.0024"/>
    </inertial>
  </link>
  <link name="left_gripper_finger_1_link_2">
    <!--
			NOTE: This link has an offset in the z-direction based on the models that were
			used to generate grap-it poses.  With the offset below the model appears visually
			correct, but it is suspect.
			-->
    <visual>
      <origin rpy="0 0 0" xyz="0.039 0 0.0075"/>
      <geometry>
        <!-- <mesh filename="package://robotiq_3f_gripper_visualization/meshes/robotiq-3f-gripper_articulated/visual/link_2.dae"/> -->
        <mesh filename="package://robotiq_3f_gripper_visualization/meshes/robotiq-3f-gripper_articulated/visual/robotiq_3f_gripper_visual_link_2.stl"/>
      </geometry>
      <material name="gray"/>
    </visual>
    <collision>
      <origin rpy="0 0 0" xyz="0.039 0 0.0075"/>
      <geometry>
        <!-- <mesh filename="package://robotiq_3f_gripper_visualization/meshes/robotiq-3f-gripper_articulated/collision/link_2.STL"/> -->
        <mesh filename="package://robotiq_3f_gripper_visualization/meshes/robotiq-3f-gripper_articulated/collision/robotiq_3f_gripper_collision_link_2.STL"/>
      </geometry>
      <material name="yellow"/>
    </collision>
    <inertial>
      <origin rpy="0 0 0" xyz="0 0 0"/>
      <mass value="0.15"/>
      <inertia ixx="0.001859" ixy="-0.000376" ixz="0.000028" iyy="0.012756" iyz="0" izz="0.0024"/>
    </inertial>
  </link>
  <link name="left_gripper_finger_1_link_3">
    <visual>
      <origin rpy="0 0 0.52" xyz="0 0 0"/>
      <geometry>
        <!-- <mesh filename="package://robotiq_3f_gripper_visualization/meshes/robotiq-3f-gripper_articulated/visual/link_3.dae"/> -->
        <mesh filename="package://robotiq_3f_gripper_visualization/meshes/robotiq-3f-gripper_articulated/visual/robotiq_3f_gripper_visual_link_3.stl"/>
      </geometry>
      <material name="gray"/>
    </visual>
    <collision>
      <origin rpy="0 0 0.52" xyz="0 0 0"/>
      <geometry>
        <!-- <mesh filename="package://robotiq_3f_gripper_visualization/meshes/robotiq-3f-gripper_articulated/collision/link_3.STL"/> -->
        <mesh filename="package://robotiq_3f_gripper_visualization/meshes/robotiq-3f-gripper_articulated/collision/robotiq_3f_gripper_collision_link_3.STL"/>
      </geometry>
      <material name="yellow"/>
    </collision>
    <inertial>
      <origin rpy="0 0 0" xyz="0 0 0"/>
      <mass value="0.05"/>
      <inertia ixx="0.001239" ixy="-0.000251" ixz="0.000019" iyy="0.00085" iyz="0" izz="0.001632"/>
    </inertial>
  </link>
  <!-- end of link list -->
  <!-- joint list -->
  <joint name="left_gripper_finger_1_joint_1" type="revolute">
    <parent link="left_gripper_finger_1_link_0"/>
    <child link="left_gripper_finger_1_link_1"/>
    <axis xyz="0 0 1"/>
    <origin rpy="0 0 0" xyz="0.020 0 0"/>
    <limit effort="100" lower="0.0495" upper="1.2218" velocity="100"/>
  </joint>
  <joint name="left_gripper_finger_1_joint_2" type="revolute">
    <parent link="left_gripper_finger_1_link_1"/>
    <child link="left_gripper_finger_1_link_2"/>
    <axis xyz="0 0 1"/>
    <origin rpy="0 0 -0.52" xyz="0.050 -.028 0"/>
    <limit effort="100" lower="0.0" upper="1.5708" velocity="100"/>
  </joint>
  <joint name="left_gripper_finger_1_joint_3" type="revolute">
    <parent link="left_gripper_finger_1_link_2"/>
    <child link="left_gripper_finger_1_link_3"/>
    <axis xyz="0 0 1"/>
    <origin rpy="0 0 0" xyz="0.039 0 0"/>
    <limit effort="100" lower="-1.2217" upper="-0.0523" velocity="100"/>
  </joint>
  <!-- end of joint list -->
  <!-- link list -->
  <link name="left_gripper_finger_2_link_0">
    <visual>
      <origin rpy="0 0 0" xyz="0.020 0 0"/>
      <geometry>
        <!-- <mesh filename="package://robotiq_3f_gripper_visualization/meshes/robotiq-3f-gripper_articulated/visual/link_0.dae"/> -->
        <mesh filename="package://robotiq_3f_gripper_visualization/meshes/robotiq-3f-gripper_articulated/visual/robotiq_3f_gripper_visual_link_0.stl"/>
      </geometry>
      <material name="gray">
        <color rgba="0.2 0.2 0.2 1"/>
      </material>
    </visual>
    <collision>
      <origin rpy="0 0 0" xyz="0.020 0 0"/>
      <geometry>
        <!-- <mesh filename="package://robotiq_3f_gripper_visualization/meshes/robotiq-3f-gripper_articulated/collision/link_0.STL"/> -->
        <mesh filename="package://robotiq_3f_gripper_visualization/meshes/robotiq-3f-gripper_articulated/collision/robotiq_3f_gripper_collision_link_0.STL"/>
      </geometry>
      <material name="yellow">
        <color rgba="0 1 1 1"/>
      </material>
    </collision>
    <inertial>
      <origin rpy="0 0 0" xyz="0 0 0"/>
      <mass value="0.05"/>
      <inertia ixx="0.01" ixy="-0.00002" ixz="0.00001" iyy="0.0008" iyz="0" izz="0.001"/>
    </inertial>
  </link>
  <link name="left_gripper_finger_2_link_1">
    <visual>
      <origin rpy="0 0 -0.52" xyz="0.050 -.028 0"/>
      <geometry>
        <!-- <mesh filename="package://robotiq_3f_gripper_visualization/meshes/robotiq-3f-gripper_articulated/visual/link_1.dae"/> -->
        <mesh filename="package://robotiq_3f_gripper_visualization/meshes/robotiq-3f-gripper_articulated/visual/robotiq_3f_gripper_visual_link_1.stl"/>
      </geometry>
      <material name="gray"/>
    </visual>
    <collision>
      <origin rpy="0 0 -0.52" xyz="0.050 -.028 0"/>
      <geometry>
        <!-- <mesh filename="package://robotiq_3f_gripper_visualization/meshes/robotiq-3f-gripper_articulated/collision/link_1.STL"/> -->
        <mesh filename="package://robotiq_3f_gripper_visualization/meshes/robotiq-3f-gripper_articulated/collision/robotiq_3f_gripper_collision_link_1.STL"/>
      </geometry>
      <material name="yellow"/>
    </collision>
    <inertial>
      <origin rpy="0 0 0" xyz="0 0 0"/>
      <mass value="0.15"/>
      <inertia ixx="0.001859" ixy="-0.000376" ixz="0.000028" iyy="0.012756" iyz="0" izz="0.0024"/>
    </inertial>
  </link>
  <link name="left_gripper_finger_2_link_2">
    <!--
			NOTE: This link has an offset in the z-direction based on the models that were
			used to generate grap-it poses.  With the offset below the model appears visually
			correct, but it is suspect.
			-->
    <visual>
      <origin rpy="0 0 0" xyz="0.039 0 0.0075"/>
      <geometry>
        <!-- <mesh filename="package://robotiq_3f_gripper_visualization/meshes/robotiq-3f-gripper_articulated/visual/link_2.dae"/> -->
        <mesh filename="package://robotiq_3f_gripper_visualization/meshes/robotiq-3f-gripper_articulated/visual/robotiq_3f_gripper_visual_link_2.dae"/>
      </geometry>
      <material name="gray"/>
    </visual>
    <collision>
      <origin rpy="0 0 0" xyz="0.039 0 0.0075"/>
      <geometry>
        <!-- <mesh filename="package://robotiq_3f_gripper_visualization/meshes/robotiq-3f-gripper_articulated/collision/link_2.STL"/> -->
        <mesh filename="package://robotiq_3f_gripper_visualization/meshes/robotiq-3f-gripper_articulated/collision/robotiq_3f_gripper_collision_link_2.STL"/>
      </geometry>
      <material name="yellow"/>
    </collision>
    <inertial>
      <origin rpy="0 0 0" xyz="0 0 0"/>
      <mass value="0.15"/>
      <inertia ixx="0.001859" ixy="-0.000376" ixz="0.000028" iyy="0.012756" iyz="0" izz="0.0024"/>
    </inertial>
  </link>
  <link name="left_gripper_finger_2_link_3">
    <visual>
      <origin rpy="0 0 0.52" xyz="0 0 0"/>
      <geometry>
        <!-- <mesh filename="package://robotiq_3f_gripper_visualization/meshes/robotiq-3f-gripper_articulated/visual/link_3.dae"/> -->
        <mesh filename="package://robotiq_3f_gripper_visualization/meshes/robotiq-3f-gripper_articulated/visual/robotiq_3f_gripper_visual_link_3.stl"/>
      </geometry>
      <material name="gray"/>
    </visual>
    <collision>
      <origin rpy="0 0 0.52" xyz="0 0 0"/>
      <geometry>
        <!-- <mesh filename="package://robotiq_3f_gripper_visualization/meshes/robotiq-3f-gripper_articulated/collision/link_3.STL"/> -->
        <mesh filename="package://robotiq_3f_gripper_visualization/meshes/robotiq-3f-gripper_articulated/collision/robotiq_3f_gripper_collision_link_3.STL"/>
      </geometry>
      <material name="yellow"/>
    </collision>
    <inertial>
      <origin rpy="0 0 0" xyz="0 0 0"/>
      <mass value="0.05"/>
      <inertia ixx="0.001239" ixy="-0.000251" ixz="0.000019" iyy="0.00085" iyz="0" izz="0.001632"/>
    </inertial>
  </link>
  <!-- end of link list -->
  <!-- joint list -->
  <joint name="left_gripper_finger_2_joint_1" type="revolute">
    <parent link="left_gripper_finger_2_link_0"/>
    <child link="left_gripper_finger_2_link_1"/>
    <axis xyz="0 0 1"/>
    <origin rpy="0 0 0" xyz="0.020 0 0"/>
    <limit effort="100" lower="0.0495" upper="1.2218" velocity="100"/>
  </joint>
  <joint name="left_gripper_finger_2_joint_2" type="revolute">
    <parent link="left_gripper_finger_2_link_1"/>
    <child link="left_gripper_finger_2_link_2"/>
    <axis xyz="0 0 1"/>
    <origin rpy="0 0 -0.52" xyz="0.050 -.028 0"/>
    <limit effort="100" lower="0.0" upper="1.5708" velocity="100"/>
  </joint>
  <joint name="left_gripper_finger_2_joint_3" type="revolute">
    <parent link="left_gripper_finger_2_link_2"/>
    <child link="left_gripper_finger_2_link_3"/>
    <axis xyz="0 0 1"/>
    <origin rpy="0 0 0" xyz="0.039 0 0"/>
    <limit effort="100" lower="-1.2217" upper="-0.0523" velocity="100"/>
  </joint>
  <!-- end of joint list -->
  <!-- link list -->
  <link name="left_gripper_finger_middle_link_0">
    <visual>
      <origin rpy="0 0 0" xyz="0.020 0 0"/>
      <geometry>
        <!-- <mesh filename="package://robotiq_3f_gripper_visualization/meshes/robotiq-3f-gripper_articulated/visual/link_0.dae"/> -->
        <mesh filename="package://robotiq_3f_gripper_visualization/meshes/robotiq-3f-gripper_articulated/visual/robotiq_3f_gripper_visual_link_0.stl"/>
      </geometry>
      <material name="gray">
        <color rgba="0.2 0.2 0.2 1"/>
      </material>
    </visual>
    <collision>
      <origin rpy="0 0 0" xyz="0.020 0 0"/>
      <geometry>
        <!-- <mesh filename="package://robotiq_3f_gripper_visualization/meshes/robotiq-3f-gripper_articulated/collision/link_0.STL"/> -->
        <mesh filename="package://robotiq_3f_gripper_visualization/meshes/robotiq-3f-gripper_articulated/collision/robotiq_3f_gripper_collision_link_0.STL"/>
      </geometry>
      <material name="yellow">
        <color rgba="0 1 1 1"/>
      </material>
    </collision>
    <inertial>
      <origin rpy="0 0 0" xyz="0 0 0"/>
      <mass value="0.05"/>
      <inertia ixx="0.01" ixy="-0.00002" ixz="0.00001" iyy="0.0008" iyz="0" izz="0.001"/>
    </inertial>
  </link>
  <link name="left_gripper_finger_middle_link_1">
    <visual>
      <origin rpy="0 0 -0.52" xyz="0.050 -.028 0"/>
      <geometry>
        <!-- <mesh filename="package://robotiq_3f_gripper_visualization/meshes/robotiq-3f-gripper_articulated/visual/link_1.dae"/> -->
        <mesh filename="package://robotiq_3f_gripper_visualization/meshes/robotiq-3f-gripper_articulated/visual/robotiq_3f_gripper_visual_link_1.stl"/>
      </geometry>
      <material name="gray"/>
    </visual>
    <collision>
      <origin rpy="0 0 -0.52" xyz="0.050 -.028 0"/>
      <geometry>
        <!-- <mesh filename="package://robotiq_3f_gripper_visualization/meshes/robotiq-3f-gripper_articulated/collision/link_1.STL"/> -->
        <mesh filename="package://robotiq_3f_gripper_visualization/meshes/robotiq-3f-gripper_articulated/collision/robotiq_3f_gripper_collision_link_1.STL"/>
      </geometry>
      <material name="yellow"/>
    </collision>
    <inertial>
      <origin rpy="0 0 0" xyz="0 0 0"/>
      <mass value="0.15"/>
      <inertia ixx="0.001859" ixy="-0.000376" ixz="0.000028" iyy="0.012756" iyz="0" izz="0.0024"/>
    </inertial>
  </link>
  <link name="left_gripper_finger_middle_link_2">
    <!--
			NOTE: This link has an offset in the z-direction based on the models that were
			used to generate grap-it poses.  With the offset below the model appears visually
			correct, but it is suspect.
			-->
    <visual>
      <origin rpy="0 0 0" xyz="0.039 0 0.0075"/>
      <geometry>
        <!-- <mesh filename="package://robotiq_3f_gripper_visualization/meshes/robotiq-3f-gripper_articulated/visual/link_2.dae"/> -->
        <mesh filename="package://robotiq_3f_gripper_visualization/meshes/robotiq-3f-gripper_articulated/visual/robotiq_3f_gripper_visual_link_2.stl"/>
      </geometry>
      <material name="gray"/>
    </visual>
    <collision>
      <origin rpy="0 0 0" xyz="0.039 0 0.0075"/>
      <geometry>
        <!-- <mesh filename="package://robotiq_3f_gripper_visualization/meshes/robotiq-3f-gripper_articulated/collision/link_2.STL"/> -->
        <mesh filename="package://robotiq_3f_gripper_visualization/meshes/robotiq-3f-gripper_articulated/collision/robotiq_3f_gripper_collision_link_2.STL"/>
      </geometry>
      <material name="yellow"/>
    </collision>
    <inertial>
      <origin rpy="0 0 0" xyz="0 0 0"/>
      <mass value="0.15"/>
      <inertia ixx="0.001859" ixy="-0.000376" ixz="0.000028" iyy="0.012756" iyz="0" izz="0.0024"/>
    </inertial>
  </link>
  <link name="left_gripper_finger_middle_link_3">
    <visual>
      <origin rpy="0 0 0.52" xyz="0 0 0"/>
      <geometry>
        <!-- <mesh filename="package://robotiq_3f_gripper_visualization/meshes/robotiq-3f-gripper_articulated/visual/link_3.dae"/> -->
        <mesh filename="package://robotiq_3f_gripper_visualization/meshes/robotiq-3f-gripper_articulated/visual/robotiq_3f_gripper_visual_link_3.stl"/>
      </geometry>
      <material name="gray"/>
    </visual>
    <collision>
      <origin rpy="0 0 0.52" xyz="0 0 0"/>
      <geometry>
        <!-- <mesh filename="package://robotiq_3f_gripper_visualization/meshes/robotiq-3f-gripper_articulated/collision/link_3.STL"/> -->
        <mesh filename="package://robotiq_3f_gripper_visualization/meshes/robotiq-3f-gripper_articulated/collision/robotiq_3f_gripper_collision_link_3.STL"/>
      </geometry>
      <material name="yellow"/>
    </collision>
    <inertial>
      <origin rpy="0 0 0" xyz="0 0 0"/>
      <mass value="0.05"/>
      <inertia ixx="0.001239" ixy="-0.000251" ixz="0.000019" iyy="0.00085" iyz="0" izz="0.001632"/>
    </inertial>
  </link>
  <!-- end of link list -->
  <!-- joint list -->
  <joint name="left_gripper_finger_middle_joint_1" type="revolute">
    <parent link="left_gripper_finger_middle_link_0"/>
    <child link="left_gripper_finger_middle_link_1"/>
    <axis xyz="0 0 1"/>
    <origin rpy="0 0 0" xyz="0.020 0 0"/>
    <limit effort="100" lower="0.0495" upper="1.2218" velocity="100"/>
  </joint>
  <joint name="left_gripper_finger_middle_joint_2" type="revolute">
    <parent link="left_gripper_finger_middle_link_1"/>
    <child link="left_gripper_finger_middle_link_2"/>
    <axis xyz="0 0 1"/>
    <origin rpy="0 0 -0.52" xyz="0.050 -.028 0"/>
    <limit effort="100" lower="0.0" upper="1.5708" velocity="100"/>
  </joint>
  <joint name="left_gripper_finger_middle_joint_3" type="revolute">
    <parent link="left_gripper_finger_middle_link_2"/>
    <child link="left_gripper_finger_middle_link_3"/>
    <axis xyz="0 0 1"/>
    <origin rpy="0 0 0" xyz="0.039 0 0"/>
    <limit effort="100" lower="-1.2217" upper="-0.0523" velocity="100"/>
  </joint>
  <!-- end of joint list -->
  <!-- link list -->
  <link name="left_gripper_palm">
    <visual>
      <geometry>
        <!-- <mesh filename="package://robotiq_3f_gripper_visualization/meshes/robotiq-3f-gripper_articulated/visual/palm.dae"/> -->
        <mesh filename="package://robotiq_3f_gripper_visualization/meshes/robotiq-3f-gripper_articulated/visual/robotiq_3f_gripper_visual_palm.stl"/>
      </geometry>
      <material name="gray">
        <color rgba="0.2 0.2 0.2 1"/>
      </material>
    </visual>
    <collision>
      <geometry>
        <!-- <mesh filename="package://robotiq_3f_gripper_visualization/meshes/robotiq-3f-gripper_articulated/collision/palm.STL"/> -->
        <mesh filename="package://robotiq_3f_gripper_visualization/meshes/robotiq-3f-gripper_articulated/visual/robotiq_3f_gripper_collision_palm.STL"/>
      </geometry>
      <material name="yellow">
        <color rgba="0 1 1 1"/>
      </material>
    </collision>
  </link>
  <link name="left_gripper_tool0"/>
  <inertial>
    <origin rpy="0 0 0" xyz="0 0 0"/>
    <mass value="1.3"/>
    <inertia ixx="0.006012" ixy="0.000079" ixz="-0.00024" iyy="0.012892" iyz="0" izz="0.002435"/>
  </inertial>
  <!-- end of link list -->
  <!-- joint list -->
  <joint name="left_gripper_palm_finger_1_joint" type="revolute">
    <parent link="left_gripper_palm"/>
    <child link="left_gripper_finger_1_link_0"/>
    <axis xyz="0 1 0"/>
    <origin rpy="0 3.1416 -1.57" xyz="-0.0455 0.0214 0.036"/>
    <limit effort="100" lower="-0.1784" upper="0.192" velocity="100"/>
  </joint>
  <joint name="left_gripper_palm_finger_2_joint" type="revolute">
    <parent link="left_gripper_palm"/>
    <child link="left_gripper_finger_2_link_0"/>
    <axis xyz="0 1 0"/>
    <origin rpy="0 3.1416 -1.57" xyz="-0.0455 0.0214 -0.036"/>
    <limit effort="100" lower="-0.192" upper="0.1784" velocity="100"/>
  </joint>
  <joint name="left_gripper_palm_finger_middle_joint" type="fixed">
    <parent link="left_gripper_palm"/>
    <child link="left_gripper_finger_middle_link_0"/>
    <axis xyz="0 0 1"/>
    <origin rpy="0 0 1.57" xyz="0.0455 0.0214 0"/>
  </joint>
  <joint name="left_gripper_palm_tool0" type="fixed">
    <parent link="left_gripper_palm"/>
    <child link="left_gripper_tool0"/>
    <origin rpy="-1.5708 0.0 0" xyz="0.0 0.0875 0.0"/>
  </joint>
  <!-- end of joint list -->
  <!-- joint attaching parent link to robotiq hand -->
  <joint name="right_gripper_robotiq_hand_joint" type="fixed">
    <origin rpy="1.57079632679 0 2.35619449019" xyz="0 0 0.065"/>
    <parent link="right_arm_tool0"/>
    <child link="right_gripper_palm"/>
  </joint>
  <!-- link list -->
  <link name="right_gripper_finger_1_link_0">
    <visual>
      <origin rpy="0 0 0" xyz="0.020 0 0"/>
      <geometry>
        <!-- <mesh filename="package://robotiq_3f_gripper_visualization/meshes/robotiq-3f-gripper_articulated/visual/link_0.dae"/> -->
        <mesh filename="package://robotiq_3f_gripper_visualization/meshes/robotiq-3f-gripper_articulated/visual/robotiq_3f_gripper_visual_link_0.stl"/>
      </geometry>
      <material name="gray">
        <color rgba="0.2 0.2 0.2 1"/>
      </material>
    </visual>
    <collision>
      <origin rpy="0 0 0" xyz="0.020 0 0"/>
      <geometry>
        <!-- <mesh filename="package://robotiq_3f_gripper_visualization/meshes/robotiq-3f-gripper_articulated/collision/link_0.STL"/> -->
        <mesh filename="package://robotiq_3f_gripper_visualization/meshes/robotiq-3f-gripper_articulated/collision/robotiq_3f_gripper_collision_link_0.STL"/>
      </geometry>
      <material name="yellow">
        <color rgba="0 1 1 1"/>
      </material>
    </collision>
    <inertial>
      <origin rpy="0 0 0" xyz="0 0 0"/>
      <mass value="0.05"/>
      <inertia ixx="0.01" ixy="-0.00002" ixz="0.00001" iyy="0.0008" iyz="0" izz="0.001"/>
    </inertial>
  </link>
  <link name="right_gripper_finger_1_link_1">
    <visual>
      <origin rpy="0 0 -0.52" xyz="0.050 -.028 0"/>
      <geometry>
        <!-- <mesh filename="package://robotiq_3f_gripper_visualization/meshes/robotiq-3f-gripper_articulated/visual/link_1.dae"/> -->
        <mesh filename="package://robotiq_3f_gripper_visualization/meshes/robotiq-3f-gripper_articulated/visual/robotiq_3f_gripper_visual_link_1.stl"/>
      </geometry>
      <material name="gray"/>
    </visual>
    <collision>
      <origin rpy="0 0 -0.52" xyz="0.050 -.028 0"/>
      <geometry>
        <!-- <mesh filename="package://robotiq_3f_gripper_visualization/meshes/robotiq-3f-gripper_articulated/collision/link_1.STL"/> -->
        <mesh filename="package://robotiq_3f_gripper_visualization/meshes/robotiq-3f-gripper_articulated/collision/robotiq_3f_gripper_collision_link_1.STL"/>
      </geometry>
      <material name="yellow"/>
    </collision>
    <inertial>
      <origin rpy="0 0 0" xyz="0 0 0"/>
      <mass value="0.15"/>
      <inertia ixx="0.001859" ixy="-0.000376" ixz="0.000028" iyy="0.012756" iyz="0" izz="0.0024"/>
    </inertial>
  </link>
  <link name="right_gripper_finger_1_link_2">
    <!--
			NOTE: This link has an offset in the z-direction based on the models that were
			used to generate grap-it poses.  With the offset below the model appears visually
			correct, but it is suspect.
			-->
    <visual>
      <origin rpy="0 0 0" xyz="0.039 0 0.0075"/>
      <geometry>
        <!-- <mesh filename="package://robotiq_3f_gripper_visualization/meshes/robotiq-3f-gripper_articulated/visual/link_2.dae"/> -->
        <mesh filename="package://robotiq_3f_gripper_visualization/meshes/robotiq-3f-gripper_articulated/visual/robotiq_3f_gripper_visual_link_2.stl"/>
      </geometry>
      <material name="gray"/>
    </visual>
    <collision>
      <origin rpy="0 0 0" xyz="0.039 0 0.0075"/>
      <geometry>
        <!-- <mesh filename="package://robotiq_3f_gripper_visualization/meshes/robotiq-3f-gripper_articulated/collision/link_2.STL"/> -->
        <mesh filename="package://robotiq_3f_gripper_visualization/meshes/robotiq-3f-gripper_articulated/collision/robotiq_3f_gripper_collision_link_2.STL"/>
      </geometry>
      <material name="yellow"/>
    </collision>
    <inertial>
      <origin rpy="0 0 0" xyz="0 0 0"/>
      <mass value="0.15"/>
      <inertia ixx="0.001859" ixy="-0.000376" ixz="0.000028" iyy="0.012756" iyz="0" izz="0.0024"/>
    </inertial>
  </link>
  <link name="right_gripper_finger_1_link_3">
    <visual>
      <origin rpy="0 0 0.52" xyz="0 0 0"/>
      <geometry>
        <!-- <mesh filename="package://robotiq_3f_gripper_visualization/meshes/robotiq-3f-gripper_articulated/visual/link_3.dae"/> -->
        <mesh filename="package://robotiq_3f_gripper_visualization/meshes/robotiq-3f-gripper_articulated/visual/robotiq_3f_gripper_visual_link_3.stl"/>
      </geometry>
      <material name="gray"/>
    </visual>
    <collision>
      <origin rpy="0 0 0.52" xyz="0 0 0"/>
      <geometry>
        <!-- <mesh filename="package://robotiq_3f_gripper_visualization/meshes/robotiq-3f-gripper_articulated/collision/link_3.STL"/> -->
        <mesh filename="package://robotiq_3f_gripper_visualization/meshes/robotiq-3f-gripper_articulated/collision/robotiq_3f_gripper_collision_link_3.STL"/>
      </geometry>
      <material name="yellow"/>
    </collision>
    <inertial>
      <origin rpy="0 0 0" xyz="0 0 0"/>
      <mass value="0.05"/>
      <inertia ixx="0.001239" ixy="-0.000251" ixz="0.000019" iyy="0.00085" iyz="0" izz="0.001632"/>
    </inertial>
  </link>
  <!-- end of link list -->
  <!-- joint list -->
  <joint name="right_gripper_finger_1_joint_1" type="revolute">
    <parent link="right_gripper_finger_1_link_0"/>
    <child link="right_gripper_finger_1_link_1"/>
    <axis xyz="0 0 1"/>
    <origin rpy="0 0 0" xyz="0.020 0 0"/>
    <limit effort="100" lower="0.0495" upper="1.2218" velocity="100"/>
  </joint>
  <joint name="right_gripper_finger_1_joint_2" type="revolute">
    <parent link="right_gripper_finger_1_link_1"/>
    <child link="right_gripper_finger_1_link_2"/>
    <axis xyz="0 0 1"/>
    <origin rpy="0 0 -0.52" xyz="0.050 -.028 0"/>
    <limit effort="100" lower="0.0" upper="1.5708" velocity="100"/>
  </joint>
  <joint name="right_gripper_finger_1_joint_3" type="revolute">
    <parent link="right_gripper_finger_1_link_2"/>
    <child link="right_gripper_finger_1_link_3"/>
    <axis xyz="0 0 1"/>
    <origin rpy="0 0 0" xyz="0.039 0 0"/>
    <limit effort="100" lower="-1.2217" upper="-0.0523" velocity="100"/>
  </joint>
  <!-- end of joint list -->
  <!-- link list -->
  <link name="right_gripper_finger_2_link_0">
    <visual>
      <origin rpy="0 0 0" xyz="0.020 0 0"/>
      <geometry>
        <!-- <mesh filename="package://robotiq_3f_gripper_visualization/meshes/robotiq-3f-gripper_articulated/visual/link_0.dae"/> -->
        <mesh filename="package://robotiq_3f_gripper_visualization/meshes/robotiq-3f-gripper_articulated/visual/robotiq_3f_gripper_visual_link_0.stl"/>
      </geometry>
      <material name="gray">
        <color rgba="0.2 0.2 0.2 1"/>
      </material>
    </visual>
    <collision>
      <origin rpy="0 0 0" xyz="0.020 0 0"/>
      <geometry>
        <!-- <mesh filename="package://robotiq_3f_gripper_visualization/meshes/robotiq-3f-gripper_articulated/collision/link_0.STL"/> -->
        <mesh filename="package://robotiq_3f_gripper_visualization/meshes/robotiq-3f-gripper_articulated/collision/robotiq_3f_gripper_collision_link_0.STL"/>
      </geometry>
      <material name="yellow">
        <color rgba="0 1 1 1"/>
      </material>
    </collision>
    <inertial>
      <origin rpy="0 0 0" xyz="0 0 0"/>
      <mass value="0.05"/>
      <inertia ixx="0.01" ixy="-0.00002" ixz="0.00001" iyy="0.0008" iyz="0" izz="0.001"/>
    </inertial>
  </link>
  <link name="right_gripper_finger_2_link_1">
    <visual>
      <origin rpy="0 0 -0.52" xyz="0.050 -.028 0"/>
      <geometry>
        <!-- <mesh filename="package://robotiq_3f_gripper_visualization/meshes/robotiq-3f-gripper_articulated/visual/link_1.dae"/> -->
        <mesh filename="package://robotiq_3f_gripper_visualization/meshes/robotiq-3f-gripper_articulated/visual/robotiq_3f_gripper_visual_link_1.stl"/>
      </geometry>
      <material name="gray"/>
    </visual>
    <collision>
      <origin rpy="0 0 -0.52" xyz="0.050 -.028 0"/>
      <geometry>
        <!-- <mesh filename="package://robotiq_3f_gripper_visualization/meshes/robotiq-3f-gripper_articulated/collision/link_1.STL"/> -->
        <mesh filename="package://robotiq_3f_gripper_visualization/meshes/robotiq-3f-gripper_articulated/collision/robotiq_3f_gripper_collision_link_1.STL"/>
      </geometry>
      <material name="yellow"/>
    </collision>
    <inertial>
      <origin rpy="0 0 0" xyz="0 0 0"/>
      <mass value="0.15"/>
      <inertia ixx="0.001859" ixy="-0.000376" ixz="0.000028" iyy="0.012756" iyz="0" izz="0.0024"/>
    </inertial>
  </link>
  <link name="right_gripper_finger_2_link_2">
    <!--
			NOTE: This link has an offset in the z-direction based on the models that were
			used to generate grap-it poses.  With the offset below the model appears visually
			correct, but it is suspect.
			-->
    <visual>
      <origin rpy="0 0 0" xyz="0.039 0 0.0075"/>
      <geometry>
        <!-- <mesh filename="package://robotiq_3f_gripper_visualization/meshes/robotiq-3f-gripper_articulated/visual/link_2.dae"/> -->
        <mesh filename="package://robotiq_3f_gripper_visualization/meshes/robotiq-3f-gripper_articulated/visual/robotiq_3f_gripper_visual_link_2.stl"/>
      </geometry>
      <material name="gray"/>
    </visual>
    <collision>
      <origin rpy="0 0 0" xyz="0.039 0 0.0075"/>
      <geometry>
        <!-- <mesh filename="package://robotiq_3f_gripper_visualization/meshes/robotiq-3f-gripper_articulated/collision/link_2.STL"/> -->
        <mesh filename="package://robotiq_3f_gripper_visualization/meshes/robotiq-3f-gripper_articulated/collision/robotiq_3f_gripper_collision_link_2.STL"/>
      </geometry>
      <material name="yellow"/>
    </collision>
    <inertial>
      <origin rpy="0 0 0" xyz="0 0 0"/>
      <mass value="0.15"/>
      <inertia ixx="0.001859" ixy="-0.000376" ixz="0.000028" iyy="0.012756" iyz="0" izz="0.0024"/>
    </inertial>
  </link>
  <link name="right_gripper_finger_2_link_3">
    <visual>
      <origin rpy="0 0 0.52" xyz="0 0 0"/>
      <geometry>
        <!-- <mesh filename="package://robotiq_3f_gripper_visualization/meshes/robotiq-3f-gripper_articulated/visual/link_3.dae"/> -->
        <mesh filename="package://robotiq_3f_gripper_visualization/meshes/robotiq-3f-gripper_articulated/visual/robotiq_3f_gripper_visual_link_3.stl"/>
      </geometry>
      <material name="gray"/>
    </visual>
    <collision>
      <origin rpy="0 0 0.52" xyz="0 0 0"/>
      <geometry>
        <!-- <mesh filename="package://robotiq_3f_gripper_visualization/meshes/robotiq-3f-gripper_articulated/collision/link_3.STL"/> -->
        <mesh filename="package://robotiq_3f_gripper_visualization/meshes/robotiq-3f-gripper_articulated/collision/robotiq_3f_gripper_collision_link_3.STL"/>
      </geometry>
      <material name="yellow"/>
    </collision>
    <inertial>
      <origin rpy="0 0 0" xyz="0 0 0"/>
      <mass value="0.05"/>
      <inertia ixx="0.001239" ixy="-0.000251" ixz="0.000019" iyy="0.00085" iyz="0" izz="0.001632"/>
    </inertial>
  </link>
  <!-- end of link list -->
  <!-- joint list -->
  <joint name="right_gripper_finger_2_joint_1" type="revolute">
    <parent link="right_gripper_finger_2_link_0"/>
    <child link="right_gripper_finger_2_link_1"/>
    <axis xyz="0 0 1"/>
    <origin rpy="0 0 0" xyz="0.020 0 0"/>
    <limit effort="100" lower="0.0495" upper="1.2218" velocity="100"/>
  </joint>
  <joint name="right_gripper_finger_2_joint_2" type="revolute">
    <parent link="right_gripper_finger_2_link_1"/>
    <child link="right_gripper_finger_2_link_2"/>
    <axis xyz="0 0 1"/>
    <origin rpy="0 0 -0.52" xyz="0.050 -.028 0"/>
    <limit effort="100" lower="0.0" upper="1.5708" velocity="100"/>
  </joint>
  <joint name="right_gripper_finger_2_joint_3" type="revolute">
    <parent link="right_gripper_finger_2_link_2"/>
    <child link="right_gripper_finger_2_link_3"/>
    <axis xyz="0 0 1"/>
    <origin rpy="0 0 0" xyz="0.039 0 0"/>
    <limit effort="100" lower="-1.2217" upper="-0.0523" velocity="100"/>
  </joint>
  <!-- end of joint list -->
  <!-- link list -->
  <link name="right_gripper_finger_middle_link_0">
    <visual>
      <origin rpy="0 0 0" xyz="0.020 0 0"/>
      <geometry>
        <!-- <mesh filename="package://robotiq_3f_gripper_visualization/meshes/robotiq-3f-gripper_articulated/visual/link_0.dae"/> -->
        <mesh filename="package://robotiq_3f_gripper_visualization/meshes/robotiq-3f-gripper_articulated/visual/robotiq_3f_gripper_visual_link_0.stl"/>
      </geometry>
      <material name="gray">
        <color rgba="0.2 0.2 0.2 1"/>
      </material>
    </visual>
    <collision>
      <origin rpy="0 0 0" xyz="0.020 0 0"/>
      <geometry>
        <!-- <mesh filename="package://robotiq_3f_gripper_visualization/meshes/robotiq-3f-gripper_articulated/collision/link_0.STL"/> -->
        <mesh filename="package://robotiq_3f_gripper_visualization/meshes/robotiq-3f-gripper_articulated/collision/robotiq_3f_gripper_collision_link_0.STL"/>
      </geometry>
      <material name="yellow">
        <color rgba="0 1 1 1"/>
      </material>
    </collision>
    <inertial>
      <origin rpy="0 0 0" xyz="0 0 0"/>
      <mass value="0.05"/>
      <inertia ixx="0.01" ixy="-0.00002" ixz="0.00001" iyy="0.0008" iyz="0" izz="0.001"/>
    </inertial>
  </link>
  <link name="right_gripper_finger_middle_link_1">
    <visual>
      <origin rpy="0 0 -0.52" xyz="0.050 -.028 0"/>
      <geometry>
        <!-- <mesh filename="package://robotiq_3f_gripper_visualization/meshes/robotiq-3f-gripper_articulated/visual/link_1.dae"/> -->
        <mesh filename="package://robotiq_3f_gripper_visualization/meshes/robotiq-3f-gripper_articulated/visual/robotiq_3f_gripper_visual_link_1.stl"/>
      </geometry>
      <material name="gray"/>
    </visual>
    <collision>
      <origin rpy="0 0 -0.52" xyz="0.050 -.028 0"/>
      <geometry>
        <!-- <mesh filename="package://robotiq_3f_gripper_visualization/meshes/robotiq-3f-gripper_articulated/collision/link_1.STL"/> -->
        <mesh filename="package://robotiq_3f_gripper_visualization/meshes/robotiq-3f-gripper_articulated/collision/robotiq_3f_gripper_collision_link_1.STL"/>
      </geometry>
      <material name="yellow"/>
    </collision>
    <inertial>
      <origin rpy="0 0 0" xyz="0 0 0"/>
      <mass value="0.15"/>
      <inertia ixx="0.001859" ixy="-0.000376" ixz="0.000028" iyy="0.012756" iyz="0" izz="0.0024"/>
    </inertial>
  </link>
  <link name="right_gripper_finger_middle_link_2">
    <!--
			NOTE: This link has an offset in the z-direction based on the models that were
			used to generate grap-it poses.  With the offset below the model appears visually
			correct, but it is suspect.
			-->
    <visual>
      <origin rpy="0 0 0" xyz="0.039 0 0.0075"/>
      <geometry>
        <!-- <mesh filename="package://robotiq_3f_gripper_visualization/meshes/robotiq-3f-gripper_articulated/visual/link_2.dae"/> -->
        <mesh filename="package://robotiq_3f_gripper_visualization/meshes/robotiq-3f-gripper_articulated/visual/robotiq_3f_gripper_visual_link_2.stl"/>
      </geometry>
      <material name="gray"/>
    </visual>
    <collision>
      <origin rpy="0 0 0" xyz="0.039 0 0.0075"/>
      <geometry>
        <!-- <mesh filename="package://robotiq_3f_gripper_visualization/meshes/robotiq-3f-gripper_articulated/collision/link_2.STL"/> -->
        <mesh filename="package://robotiq_3f_gripper_visualization/meshes/robotiq-3f-gripper_articulated/collision/robotiq_3f_gripper_collision_link_2.STL"/>
      </geometry>
      <material name="yellow"/>
    </collision>
    <inertial>
      <origin rpy="0 0 0" xyz="0 0 0"/>
      <mass value="0.15"/>
      <inertia ixx="0.001859" ixy="-0.000376" ixz="0.000028" iyy="0.012756" iyz="0" izz="0.0024"/>
    </inertial>
  </link>
  <link name="right_gripper_finger_middle_link_3">
    <visual>
      <origin rpy="0 0 0.52" xyz="0 0 0"/>
      <geometry>
        <!-- <mesh filename="package://robotiq_3f_gripper_visualization/meshes/robotiq-3f-gripper_articulated/visual/link_3.dae"/> -->
        <mesh filename="package://robotiq_3f_gripper_visualization/meshes/robotiq-3f-gripper_articulated/visual/robotiq_3f_gripper_visual_link_3.stl"/>
      </geometry>
      <material name="gray"/>
    </visual>
    <collision>
      <origin rpy="0 0 0.52" xyz="0 0 0"/>
      <geometry>
        <!-- <mesh filename="package://robotiq_3f_gripper_visualization/meshes/robotiq-3f-gripper_articulated/collision/link_3.STL"/> -->
        <mesh filename="package://robotiq_3f_gripper_visualization/meshes/robotiq-3f-gripper_articulated/collision/robotiq_3f_gripper_collision_link_3.STL"/>
      </geometry>
      <material name="yellow"/>
    </collision>
    <inertial>
      <origin rpy="0 0 0" xyz="0 0 0"/>
      <mass value="0.05"/>
      <inertia ixx="0.001239" ixy="-0.000251" ixz="0.000019" iyy="0.00085" iyz="0" izz="0.001632"/>
    </inertial>
  </link>
  <!-- end of link list -->
  <!-- joint list -->
  <joint name="right_gripper_finger_middle_joint_1" type="revolute">
    <parent link="right_gripper_finger_middle_link_0"/>
    <child link="right_gripper_finger_middle_link_1"/>
    <axis xyz="0 0 1"/>
    <origin rpy="0 0 0" xyz="0.020 0 0"/>
    <limit effort="100" lower="0.0495" upper="1.2218" velocity="100"/>
  </joint>
  <joint name="right_gripper_finger_middle_joint_2" type="revolute">
    <parent link="right_gripper_finger_middle_link_1"/>
    <child link="right_gripper_finger_middle_link_2"/>
    <axis xyz="0 0 1"/>
    <origin rpy="0 0 -0.52" xyz="0.050 -.028 0"/>
    <limit effort="100" lower="0.0" upper="1.5708" velocity="100"/>
  </joint>
  <joint name="right_gripper_finger_middle_joint_3" type="revolute">
    <parent link="right_gripper_finger_middle_link_2"/>
    <child link="right_gripper_finger_middle_link_3"/>
    <axis xyz="0 0 1"/>
    <origin rpy="0 0 0" xyz="0.039 0 0"/>
    <limit effort="100" lower="-1.2217" upper="-0.0523" velocity="100"/>
  </joint>
  <!-- end of joint list -->
  <!-- link list -->
  <link name="right_gripper_palm">
    <visual>
      <geometry>
        <!-- <mesh filename="package://robotiq_3f_gripper_visualization/meshes/robotiq-3f-gripper_articulated/visual/palm.dae"/> -->
        <mesh filename="package://robotiq_3f_gripper_visualization/meshes/robotiq-3f-gripper_articulated/visual/robotiq_3f_gripper_visual_palm.stl"/>
      </geometry>
      <material name="gray">
        <color rgba="0.2 0.2 0.2 1"/>
      </material>
    </visual>
    <collision>
      <geometry>
        <!-- <mesh filename="package://robotiq_3f_gripper_visualization/meshes/robotiq-3f-gripper_articulated/collision/palm.STL"/> -->
        <mesh filename="package://robotiq_3f_gripper_visualization/meshes/robotiq-3f-gripper_articulated/collision/robotiq_3f_gripper_collision_palm.STL"/>
      </geometry>
      <material name="yellow">
        <color rgba="0 1 1 1"/>
      </material>
    </collision>
  </link>
  <link name="right_gripper_tool0"/>
  <inertial>
    <origin rpy="0 0 0" xyz="0 0 0"/>
    <mass value="1.3"/>
    <inertia ixx="0.006012" ixy="0.000079" ixz="-0.00024" iyy="0.012892" iyz="0" izz="0.002435"/>
  </inertial>
  <!-- end of link list -->
  <!-- joint list -->
  <joint name="right_gripper_palm_finger_1_joint" type="revolute">
    <parent link="right_gripper_palm"/>
    <child link="right_gripper_finger_1_link_0"/>
    <axis xyz="0 1 0"/>
    <origin rpy="0 3.1416 -1.57" xyz="-0.0455 0.0214 0.036"/>
    <limit effort="100" lower="-0.1784" upper="0.192" velocity="100"/>
  </joint>
  <joint name="right_gripper_palm_finger_2_joint" type="revolute">
    <parent link="right_gripper_palm"/>
    <child link="right_gripper_finger_2_link_0"/>
    <axis xyz="0 1 0"/>
    <origin rpy="0 3.1416 -1.57" xyz="-0.0455 0.0214 -0.036"/>
    <limit effort="100" lower="-0.192" upper="0.1784" velocity="100"/>
  </joint>
  <joint name="right_gripper_palm_finger_middle_joint" type="fixed">
    <parent link="right_gripper_palm"/>
    <child link="right_gripper_finger_middle_link_0"/>
    <axis xyz="0 0 1"/>
    <origin rpy="0 0 1.57" xyz="0.0455 0.0214 0"/>
  </joint>
  <joint name="right_gripper_palm_tool0" type="fixed">
    <parent link="right_gripper_palm"/>
    <child link="right_gripper_tool0"/>
    <origin rpy="-1.5708 -3.1416 0" xyz="0.0 0.0875 0.0"/>
  </joint>
  <!-- end of joint list -->
  <link name="laser_plate_link">
    <visual>
      <origin rpy="0 0 0" xyz="0 0 0"/>
      <geometry>
        <mesh filename="package://bulldog_description/meshes/laser_plate.stl"/>
      </geometry>
      <material name="black"/>
    </visual>
  </link>
  <joint name="laser_plate_joint" type="fixed">
    <parent link="installation_plate_link"/>
    <child link="laser_plate_link"/>
    <origin rpy="3.14159265359 0 0" xyz="0.35 0 -0.0476"/>
  </joint>
  <gazebo reference="laser_plate_link">
    <material>Gazebo/FlatBlack</material>
  </gazebo>
  <link name="laser">
    <inertial>
      <mass value="1.1"/>
      <origin xyz="0 0 0"/>
      <inertia ixx="0.00307156543804" ixy="0.0" ixz="0.0" iyy="0.00312849041527" iyz="0.0" izz="0.00196432421427"/>
    </inertial>
    <visual>
      <origin rpy="0 0 0" xyz="0 0 0"/>
      <geometry>
        <!-- Origin of this mesh is the focal point of the LIDAR. -->
        <!-- <mesh filename="package://lms1xx/meshes/sick-lms1xx.dae"/> -->
        <mesh filename="package://lms1xx/meshes/sick-lms1xx.stl"/>
      </geometry>
    </visual>
    <collision>
      <origin rpy="0 0 0" xyz="0 0 -0.05"/>
      <geometry>
        <box size="0.105 0.1 0.1"/>
      </geometry>
    </collision>
  </link>
  <gazebo reference="laser">
    <turnGravityOff>true</turnGravityOff>
    <sensor name="laser" type="ray">
      <pose>0 0 0 0 0 0</pose>
      <visualize>false</visualize>
      <update_rate>50</update_rate>
      <ray>
        <scan>
          <horizontal>
            <samples>720</samples>
            <resolution>1</resolution>
            <min_angle>-2.09439510239</min_angle>
            <max_angle>2.09439510239</max_angle>
          </horizontal>
        </scan>
        <range>
          <min>0.1</min>
          <max>30.0</max>
          <resolution>0.01</resolution>
        </range>
        <noise>
          <type>gaussian</type>
          <mean>0.0</mean>
          <stddev>0.001</stddev>
        </noise>
      </ray>
      <plugin filename="libgazebo_ros_laser.so" name="gazebo_ros_laser">
        <topicName>scan</topicName>
        <frameName>laser</frameName>
        <robotNamespace>/</robotNamespace>
      </plugin>
    </sensor>
  </gazebo>
  <joint name="laser_mount_joint" type="fixed">
    <origin rpy="3.14159265359 0 0" xyz="0.015 0 0.044"/>
    <parent link="laser_plate_link"/>
    <child link="laser"/>
  </joint>
  <link name="left_gripper_sensor_support_link">
    <visual>
      <origin rpy="0 0 0" xyz="0 0 0"/>
      <geometry>
        <mesh filename="package://bulldog_description/meshes/realsense_support.stl"/>
      </geometry>
      <material name="white">
        <color rgba="1.0 1.0 1.0 1.0"/>
      </material>
    </visual>
    <collision>
      <origin rpy="0 0 0" xyz="0 0 0"/>
      <geometry>
        <mesh filename="package://bulldog_description/meshes/realsense_support.stl"/>
      </geometry>
    </collision>
  </link>
  <joint name="left_gripper_sensor_support_installation_support_joint" type="fixed">
    <origin rpy="1.57079632679 0 3.14159265359" xyz="0 -0.050 0"/>
    <parent link="left_gripper_palm"/>
    <child link="left_gripper_sensor_support_link"/>
  </joint>
  <link name="left_gripper_sensor_support_mounted_link">
    </link>
  <joint name="left_gripper_sensor_support_mounted_joint" type="fixed">
    <origin rpy="0 -1.57079632679 -1.57079632679" xyz="0 0.0795 0.00875"/>
    <parent link="left_gripper_sensor_support_link"/>
    <child link="left_gripper_sensor_support_mounted_link"/>
  </joint>
  <!-- camera body, with origin at bottom screw mount -->
  <joint name="left_gripper_sensor_d415_camera_joint" type="fixed">
    <origin rpy="0 0 0" xyz="0 0 0"/>
    <parent link="left_gripper_sensor_support_mounted_link"/>
    <child link="left_gripper_sensor_d415_camera_bottom_screw_frame"/>
  </joint>
  <link name="left_gripper_sensor_d415_camera_bottom_screw_frame"/>
  <joint name="left_gripper_sensor_d415_camera_link_joint" type="fixed">
    <origin rpy="0 0 0" xyz="0 0.02 0.0115"/>
    <parent link="left_gripper_sensor_d415_camera_bottom_screw_frame"/>
    <child link="left_gripper_sensor_d415_camera_link"/>
  </joint>
  <link name="left_gripper_sensor_d415_camera_link">
    <visual>
      <origin rpy="1.57079632679 0 1.57079632679" xyz="0.00987 -0.02 0"/>
      <geometry>
        <!-- <box size="${d415_cam_width} ${d415_cam_height} ${d415_cam_depth}"/> -->
        <mesh filename="package://realsense2_description/meshes/d415.stl"/>
      </geometry>
      <material name="aluminum">
        <color rgba="0.5 0.5 0.5 1"/>
      </material>
    </visual>
    <collision>
      <origin rpy="0 0 0" xyz="0 -0.02 0"/>
      <geometry>
        <box size="0.02005 0.099 0.023"/>
      </geometry>
    </collision>
    <inertial>
      <!-- The following are not reliable values, and should not be used for modeling -->
      <mass value="0.564"/>
      <origin xyz="0 0 0"/>
      <inertia ixx="0.003881243" ixy="0.0" ixz="0.0" iyy="0.000498940" iyz="0.0" izz="0.003879257"/>
    </inertial>
  </link>
  <!-- camera depth joints and links -->
  <joint name="left_gripper_sensor_d415_camera_depth_joint" type="fixed">
    <origin rpy="0 0 0" xyz="0 0 0"/>
    <parent link="left_gripper_sensor_d415_camera_link"/>
    <child link="left_gripper_sensor_d415_camera_depth_frame"/>
  </joint>
  <link name="left_gripper_sensor_d415_camera_depth_frame"/>
  <joint name="left_gripper_sensor_d415_camera_depth_optical_joint" type="fixed">
    <origin rpy="-1.57079632679 0 -1.57079632679" xyz="0 0 0"/>
    <parent link="left_gripper_sensor_d415_camera_depth_frame"/>
    <child link="left_gripper_sensor_d415_camera_depth_optical_frame"/>
  </joint>
  <link name="left_gripper_sensor_d415_camera_depth_optical_frame"/>
  <!-- camera left IR joints and links -->
  <joint name="left_gripper_sensor_d415_camera_left_ir_joint" type="fixed">
    <origin rpy="0 0 0" xyz="0 0.0 0"/>
    <parent link="left_gripper_sensor_d415_camera_depth_frame"/>
    <child link="left_gripper_sensor_d415_camera_left_ir_frame"/>
  </joint>
  <link name="left_gripper_sensor_d415_camera_left_ir_frame"/>
  <joint name="left_gripper_sensor_d415_camera_left_ir_optical_joint" type="fixed">
    <origin rpy="-1.57079632679 0 -1.57079632679" xyz="0 0 0"/>
    <parent link="left_gripper_sensor_d415_camera_left_ir_frame"/>
    <child link="left_gripper_sensor_d415_camera_left_ir_optical_frame"/>
  </joint>
  <link name="left_gripper_sensor_d415_camera_left_ir_optical_frame"/>
  <!-- camera right IR joints and links -->
  <joint name="left_gripper_sensor_d415_camera_right_ir_joint" type="fixed">
    <origin rpy="0 0 0" xyz="0 -0.055 0"/>
    <parent link="left_gripper_sensor_d415_camera_depth_frame"/>
    <child link="left_gripper_sensor_d415_camera_right_ir_frame"/>
  </joint>
  <link name="left_gripper_sensor_d415_camera_right_ir_frame"/>
  <joint name="left_gripper_sensor_d415_camera_right_ir_optical_joint" type="fixed">
    <origin rpy="-1.57079632679 0 -1.57079632679" xyz="0 0 0"/>
    <parent link="left_gripper_sensor_d415_camera_right_ir_frame"/>
    <child link="left_gripper_sensor_d415_camera_right_ir_optical_frame"/>
  </joint>
  <link name="left_gripper_sensor_d415_camera_right_ir_optical_frame"/>
  <!-- camera color joints and links -->
  <joint name="left_gripper_sensor_d415_camera_color_joint" type="fixed">
    <origin rpy="0 0 0" xyz="0 0.015 0"/>
    <parent link="left_gripper_sensor_d415_camera_depth_frame"/>
    <child link="left_gripper_sensor_d415_camera_color_frame"/>
  </joint>
  <link name="left_gripper_sensor_d415_camera_color_frame"/>
  <joint name="left_gripper_sensor_d415_camera_color_optical_joint" type="fixed">
    <origin rpy="-1.57079632679 0 -1.57079632679" xyz="0 0 0"/>
    <parent link="left_gripper_sensor_d415_camera_color_frame"/>
    <child link="left_gripper_sensor_d415_camera_color_optical_frame"/>
  </joint>
  <link name="left_gripper_sensor_d415_camera_color_optical_frame"/>
  <link name="right_gripper_sensor_support_link">
    <visual>
      <origin rpy="0 0 0" xyz="0 0 0"/>
      <geometry>
        <mesh filename="package://bulldog_description/meshes/realsense_support.stl"/>
      </geometry>
      <material name="white">
        <color rgba="1.0 1.0 1.0 1.0"/>
      </material>
    </visual>
    <collision>
      <origin rpy="0 0 0" xyz="0 0 0"/>
      <geometry>
        <mesh filename="package://bulldog_description/meshes/realsense_support.stl"/>
      </geometry>
    </collision>
  </link>
  <joint name="right_gripper_sensor_support_installation_support_joint" type="fixed">
    <origin rpy="-1.57079632679 0 0" xyz="0 -0.050 0"/>
    <parent link="right_gripper_palm"/>
    <child link="right_gripper_sensor_support_link"/>
  </joint>
  <link name="right_gripper_sensor_support_mounted_link">
    </link>
  <joint name="right_gripper_sensor_support_mounted_joint" type="fixed">
    <origin rpy="0 -1.57079632679 -1.57079632679" xyz="0 0.0795 0.00875"/>
    <parent link="right_gripper_sensor_support_link"/>
    <child link="right_gripper_sensor_support_mounted_link"/>
  </joint>
  <!-- camera body, with origin at bottom screw mount -->
  <joint name="right_gripper_sensor_d415_camera_joint" type="fixed">
    <origin rpy="0 0 0" xyz="0 0 0"/>
    <parent link="right_gripper_sensor_support_mounted_link"/>
    <child link="right_gripper_sensor_d415_camera_bottom_screw_frame"/>
  </joint>
  <link name="right_gripper_sensor_d415_camera_bottom_screw_frame"/>
  <joint name="right_gripper_sensor_d415_camera_link_joint" type="fixed">
    <origin rpy="0 0 0" xyz="0 0.02 0.0115"/>
    <parent link="right_gripper_sensor_d415_camera_bottom_screw_frame"/>
    <child link="right_gripper_sensor_d415_camera_link"/>
  </joint>
  <link name="right_gripper_sensor_d415_camera_link">
    <visual>
      <origin rpy="1.57079632679 0 1.57079632679" xyz="0.00987 -0.02 0"/>
      <geometry>
        <!-- <box size="${d415_cam_width} ${d415_cam_height} ${d415_cam_depth}"/> -->
        <mesh filename="package://realsense2_description/meshes/d415.stl"/>
      </geometry>
      <material name="aluminum">
        <color rgba="0.5 0.5 0.5 1"/>
      </material>
    </visual>
    <collision>
      <origin rpy="0 0 0" xyz="0 -0.02 0"/>
      <geometry>
        <box size="0.02005 0.099 0.023"/>
      </geometry>
    </collision>
    <inertial>
      <!-- The following are not reliable values, and should not be used for modeling -->
      <mass value="0.564"/>
      <origin xyz="0 0 0"/>
      <inertia ixx="0.003881243" ixy="0.0" ixz="0.0" iyy="0.000498940" iyz="0.0" izz="0.003879257"/>
    </inertial>
  </link>
  <!-- camera depth joints and links -->
  <joint name="right_gripper_sensor_d415_camera_depth_joint" type="fixed">
    <origin rpy="0 0 0" xyz="0 0 0"/>
    <parent link="right_gripper_sensor_d415_camera_link"/>
    <child link="right_gripper_sensor_d415_camera_depth_frame"/>
  </joint>
  <link name="right_gripper_sensor_d415_camera_depth_frame"/>
  <joint name="right_gripper_sensor_d415_camera_depth_optical_joint" type="fixed">
    <origin rpy="-1.57079632679 0 -1.57079632679" xyz="0 0 0"/>
    <parent link="right_gripper_sensor_d415_camera_depth_frame"/>
    <child link="right_gripper_sensor_d415_camera_depth_optical_frame"/>
  </joint>
  <link name="right_gripper_sensor_d415_camera_depth_optical_frame"/>
  <!-- camera left IR joints and links -->
  <joint name="right_gripper_sensor_d415_camera_left_ir_joint" type="fixed">
    <origin rpy="0 0 0" xyz="0 0.0 0"/>
    <parent link="right_gripper_sensor_d415_camera_depth_frame"/>
    <child link="right_gripper_sensor_d415_camera_left_ir_frame"/>
  </joint>
  <link name="right_gripper_sensor_d415_camera_left_ir_frame"/>
  <joint name="right_gripper_sensor_d415_camera_left_ir_optical_joint" type="fixed">
    <origin rpy="-1.57079632679 0 -1.57079632679" xyz="0 0 0"/>
    <parent link="right_gripper_sensor_d415_camera_left_ir_frame"/>
    <child link="right_gripper_sensor_d415_camera_left_ir_optical_frame"/>
  </joint>
  <link name="right_gripper_sensor_d415_camera_left_ir_optical_frame"/>
  <!-- camera right IR joints and links -->
  <joint name="right_gripper_sensor_d415_camera_right_ir_joint" type="fixed">
    <origin rpy="0 0 0" xyz="0 -0.055 0"/>
    <parent link="right_gripper_sensor_d415_camera_depth_frame"/>
    <child link="right_gripper_sensor_d415_camera_right_ir_frame"/>
  </joint>
  <link name="right_gripper_sensor_d415_camera_right_ir_frame"/>
  <joint name="right_gripper_sensor_d415_camera_right_ir_optical_joint" type="fixed">
    <origin rpy="-1.57079632679 0 -1.57079632679" xyz="0 0 0"/>
    <parent link="right_gripper_sensor_d415_camera_right_ir_frame"/>
    <child link="right_gripper_sensor_d415_camera_right_ir_optical_frame"/>
  </joint>
  <link name="right_gripper_sensor_d415_camera_right_ir_optical_frame"/>
  <!-- camera color joints and links -->
  <joint name="right_gripper_sensor_d415_camera_color_joint" type="fixed">
    <origin rpy="0 0 0" xyz="0 0.015 0"/>
    <parent link="right_gripper_sensor_d415_camera_depth_frame"/>
    <child link="right_gripper_sensor_d415_camera_color_frame"/>
  </joint>
  <link name="right_gripper_sensor_d415_camera_color_frame"/>
  <joint name="right_gripper_sensor_d415_camera_color_optical_joint" type="fixed">
    <origin rpy="-1.57079632679 0 -1.57079632679" xyz="0 0 0"/>
    <parent link="right_gripper_sensor_d415_camera_color_frame"/>
    <child link="right_gripper_sensor_d415_camera_color_optical_frame"/>
  </joint>
  <link name="right_gripper_sensor_d415_camera_color_optical_frame"/>
</robot>
